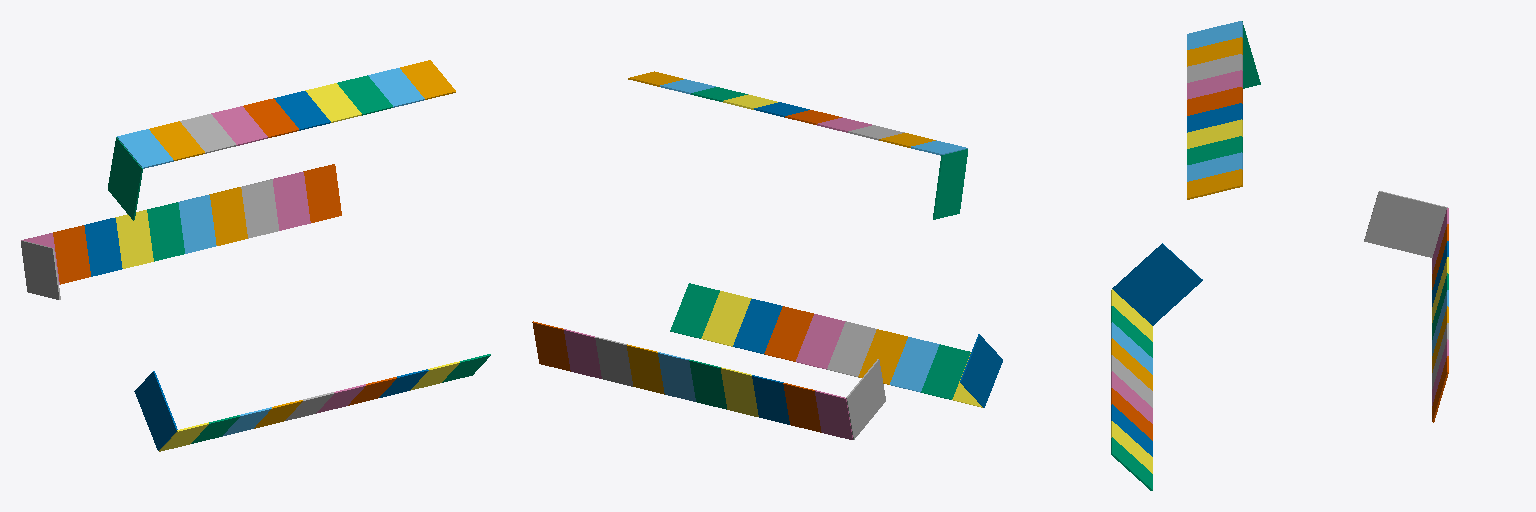
--- Render facts (derived) ---
The picture shows the robot from 3 angles, left to right: view 1: azimuth 30°, elevation 25°; view 2: azimuth 150°, elevation 25°; view 3: azimuth 270°, elevation 25°; orthographic projection.
Robot: panda — 51 links, 50 joints (37 revolute, 4 prismatic, 9 fixed); root link world; default pose: all joints at 0 but 4 set to mid-range because 0 is outside their limits (finger_1_prismatic_joint = 0.097, finger_2_prismatic_joint = 0.097, finger_3_prismatic_joint = 0.097, panda_joint4 = -1.57).
Visible links, largest first — view 1: finger_1_finger_hook_link, finger_3_finger_hook_link, finger_2_finger_hook_link, finger_2_segment_link_4, finger_2_segment_link_9, finger_2_segment_link_1, finger_2_segment_link_6, finger_2_segment_link_8, finger_2_segment_link_5, finger_2_segment_link_2, finger_2_segment_link_3, finger_2_segment_link_7 (+20 smaller); view 2: finger_1_finger_hook_link, finger_3_finger_hook_link, finger_2_finger_hook_link, finger_1_segment_link_2, finger_1_segment_link_1, finger_1_segment_link_6, finger_1_segment_link_4, finger_1_segment_link_8, finger_1_segment_link_9, finger_1_segment_link_3, finger_1_segment_link_5, finger_1_segment_link_7 (+10 smaller); view 3: finger_1_finger_hook_link, finger_2_finger_hook_link, finger_3_segment_link_1, finger_3_segment_link_2, finger_3_segment_link_4, finger_3_segment_link_5, finger_3_segment_link_7, finger_3_segment_link_9, finger_3_segment_link_3, finger_3_segment_link_6, finger_3_segment_link_10, finger_3_segment_link_8 (+11 smaller).
Link boxes in pixels (x1,y1,x2,y2): finger_1_finger_hook_link: (134,371,177,450); finger_3_finger_hook_link: (108,137,142,220); finger_2_finger_hook_link: (21,240,60,299); finger_2_segment_link_4: (209,187,247,245); finger_2_segment_link_9: (53,225,90,284); finger_2_segment_link_1: (303,164,341,222); finger_2_segment_link_6: (147,202,184,261); finger_2_segment_link_8: (84,218,122,276); finger_2_segment_link_5: (178,195,216,253); finger_2_segment_link_2: (273,172,310,230); finger_2_segment_link_3: (241,179,278,238); finger_2_segment_link_7: (115,210,153,268); finger_1_finger_hook_link: (960,334,1002,407); finger_3_finger_hook_link: (933,149,967,219); finger_2_finger_hook_link: (846,359,885,439); finger_1_segment_link_2: (701,291,751,346); finger_1_segment_link_1: (670,283,719,338); finger_1_segment_link_6: (827,321,876,377); finger_1_segment_link_4: (764,306,813,361); finger_1_segment_link_8: (890,337,939,392); finger_1_segment_link_9: (921,344,970,399); finger_1_segment_link_3: (733,299,782,354); finger_1_segment_link_5: (796,314,845,369); finger_1_segment_link_7: (858,329,907,384); finger_1_finger_hook_link: (1112,243,1202,325); finger_2_finger_hook_link: (1364,191,1447,257); finger_3_segment_link_1: (1187,169,1242,199); finger_3_segment_link_2: (1187,152,1242,181); finger_3_segment_link_4: (1187,119,1242,148); finger_3_segment_link_5: (1187,103,1242,132); finger_3_segment_link_7: (1187,70,1242,99); finger_3_segment_link_9: (1187,37,1242,66); finger_3_segment_link_3: (1187,136,1242,164); finger_3_segment_link_6: (1187,87,1242,115); finger_3_segment_link_10: (1187,21,1242,49); finger_3_segment_link_8: (1187,54,1242,82).
Size in the robot's own frame: 0.1905 by 0.1648 by 0.1648 metres.
Meshes: 12 distinct files referenced, 0 mesh visuals loaded (none loaded); not drawn: 16 (reference not matched to a file when rendering).

URDF robot description (panda):
<?xml version="1.0" encoding="utf-8"?>
<!-- =================================================================================== -->
<!-- |    This document was autogenerated by xacro from panda_and_eff.srdf.xacro       | -->
<!-- |    EDITING THIS FILE BY HAND IS NOT RECOMMENDED                                 | -->
<!-- =================================================================================== -->
<!--This does not replace URDF, and is not an extension of URDF.
    This is a format for representing semantic information about the robot structure.
    A URDF file must exist for this robot as well, where the joints and the links that are referenced are defined
-->
<robot name="panda">
  <!-- BASE LINK -->
  <link name="gripper_base_link">
    <inertial>
      <mass value="1.5"/>
      <origin rpy="3.14159265359 0 0" xyz="0 0 0.025"/>
      <inertia ixx="9.95e-3" ixy="2.73e-6" ixz="-14.32e-6" iyy="10.08e-3" iyz="121.38e-6" izz="5.13e-3"/>
    </inertial>
    <visual>
      <geometry>
        <mesh filename="package://gripper_description/meshes/main body visual.STL"/>
      </geometry>
    </visual>
    <collision>
      <geometry>
        <mesh filename="package://gripper_description/meshes/main body collision.STL"/>
      </geometry>
    </collision>
  </link>
  <!-- Intermediate link for prismatic joint -->
  <link name="finger_1_intermediate">
    <inertial>
      <mass value="0.1"/>
      <origin rpy="0 0 0" xyz="0 0 0"/>
      <inertia ixx="55.59e-6" ixy="-47.23e-6" ixz="1.16e-6" iyy="146.36e-6" iyz="1.00e-6" izz="154.18e-6"/>
    </inertial>
    <visual>
      <geometry>
        <mesh filename="package://gripper_description/meshes/nut visual.STL"/>
      </geometry>
    </visual>
    <collision>
      <geometry>
        <mesh filename="package://gripper_description/meshes/nut collision.STL"/>
      </geometry>
    </collision>
  </link>
  <!-- Main finger link -->
  <link name="finger_1">
    <inertial>
      <mass value="0.1"/>
      <origin rpy="0 0 0" xyz="0 0 0"/>
      <inertia ixx="55.59e-6" ixy="-47.23e-6" ixz="1.16e-6" iyy="146.36e-6" iyz="1.00e-6" izz="154.18e-6"/>
    </inertial>
    <visual>
      <geometry>
        <mesh filename="package://gripper_description/meshes/platform only visual.STL"/>
      </geometry>
    </visual>
    <collision>
      <geometry>
        <mesh filename="package://gripper_description/meshes/platform only collision.STL"/>
      </geometry>
    </collision>
  </link>
  <!-- Prismatic joint -->
  <joint name="finger_1_prismatic_joint" type="prismatic">
    <axis rpy="0 0 0" xyz="0 1 0"/>
    <parent link="gripper_base_link"/>
    <child link="finger_1_intermediate"/>
    <origin rpy="4.71238898038                    4.71238898038                    1.57079632679" xyz="0.0                    0.0                    0"/>
    <limit effort="40.0" lower="0.053" upper="0.141" velocity="0.015"/>
    <dynamics damping="1.0"/>
  </joint>
  <!-- Revolute joint -->
  <joint name="finger_1_revolute_joint" type="revolute">
    <axis rpy="0 0 0" xyz="0 0 1"/>
    <parent link="finger_1_intermediate"/>
    <child link="finger_1"/>
    <origin rpy="0 0 0.0" xyz="0 0 0"/>
    <limit effort="40.0" lower="-0.7" upper="0.7" velocity="0.1"/>
    <dynamics damping="1.0"/>
  </joint>
  <!-- Intermediate link for prismatic joint -->
  <link name="finger_2_intermediate">
    <inertial>
      <mass value="0.1"/>
      <origin rpy="0 0 0" xyz="0 0 0"/>
      <inertia ixx="55.59e-6" ixy="-47.23e-6" ixz="1.16e-6" iyy="146.36e-6" iyz="1.00e-6" izz="154.18e-6"/>
    </inertial>
    <visual>
      <geometry>
        <mesh filename="package://gripper_description/meshes/nut visual.STL"/>
      </geometry>
    </visual>
    <collision>
      <geometry>
        <mesh filename="package://gripper_description/meshes/nut collision.STL"/>
      </geometry>
    </collision>
  </link>
  <!-- Main finger link -->
  <link name="finger_2">
    <inertial>
      <mass value="0.1"/>
      <origin rpy="0 0 0" xyz="0 0 0"/>
      <inertia ixx="55.59e-6" ixy="-47.23e-6" ixz="1.16e-6" iyy="146.36e-6" iyz="1.00e-6" izz="154.18e-6"/>
    </inertial>
    <visual>
      <geometry>
        <mesh filename="package://gripper_description/meshes/platform only visual.STL"/>
      </geometry>
    </visual>
    <collision>
      <geometry>
        <mesh filename="package://gripper_description/meshes/platform only collision.STL"/>
      </geometry>
    </collision>
  </link>
  <!-- Prismatic joint -->
  <joint name="finger_2_prismatic_joint" type="prismatic">
    <axis rpy="0 0 0" xyz="0 1 0"/>
    <parent link="gripper_base_link"/>
    <child link="finger_2_intermediate"/>
    <origin rpy="4.71238898038                    4.71238898038                    -0.523598775598" xyz="0.0                    -0.0                    0"/>
    <limit effort="40.0" lower="0.053" upper="0.141" velocity="0.015"/>
    <dynamics damping="1.0"/>
  </joint>
  <!-- Revolute joint -->
  <joint name="finger_2_revolute_joint" type="revolute">
    <axis rpy="0 0 0" xyz="0 0 1"/>
    <parent link="finger_2_intermediate"/>
    <child link="finger_2"/>
    <origin rpy="0 0 0.0" xyz="0 0 0"/>
    <limit effort="40.0" lower="-0.7" upper="0.7" velocity="0.1"/>
    <dynamics damping="1.0"/>
  </joint>
  <!-- Intermediate link for prismatic joint -->
  <link name="finger_3_intermediate">
    <inertial>
      <mass value="0.1"/>
      <origin rpy="0 0 0" xyz="0 0 0"/>
      <inertia ixx="55.59e-6" ixy="-47.23e-6" ixz="1.16e-6" iyy="146.36e-6" iyz="1.00e-6" izz="154.18e-6"/>
    </inertial>
    <visual>
      <geometry>
        <mesh filename="package://gripper_description/meshes/nut visual.STL"/>
      </geometry>
    </visual>
    <collision>
      <geometry>
        <mesh filename="package://gripper_description/meshes/nut collision.STL"/>
      </geometry>
    </collision>
  </link>
  <!-- Main finger link -->
  <link name="finger_3">
    <inertial>
      <mass value="0.1"/>
      <origin rpy="0 0 0" xyz="0 0 0"/>
      <inertia ixx="55.59e-6" ixy="-47.23e-6" ixz="1.16e-6" iyy="146.36e-6" iyz="1.00e-6" izz="154.18e-6"/>
    </inertial>
    <visual>
      <geometry>
        <mesh filename="package://gripper_description/meshes/platform only visual.STL"/>
      </geometry>
    </visual>
    <collision>
      <geometry>
        <mesh filename="package://gripper_description/meshes/platform only collision.STL"/>
      </geometry>
    </collision>
  </link>
  <!-- Prismatic joint -->
  <joint name="finger_3_prismatic_joint" type="prismatic">
    <axis rpy="0 0 0" xyz="0 1 0"/>
    <parent link="gripper_base_link"/>
    <child link="finger_3_intermediate"/>
    <origin rpy="4.71238898038                    4.71238898038                    -2.61799387799" xyz="-0.0                    -0.0                    0"/>
    <limit effort="40.0" lower="0.053" upper="0.141" velocity="0.015"/>
    <dynamics damping="1.0"/>
  </joint>
  <!-- Revolute joint -->
  <joint name="finger_3_revolute_joint" type="revolute">
    <axis rpy="0 0 0" xyz="0 0 1"/>
    <parent link="finger_3_intermediate"/>
    <child link="finger_3"/>
    <origin rpy="0 0 0.0" xyz="0 0 0"/>
    <limit effort="40.0" lower="-0.7" upper="0.7" velocity="0.1"/>
    <dynamics damping="1.0"/>
  </joint>
  <!-- PALM -->
  <link name="palm">
    <inertial>
      <mass value="0.05"/>
      <origin rpy="0 0 0" xyz="0 0 0"/>
      <inertia ixx="10.0e-6" ixy="0.0" ixz="0.0" iyy="10.0e-6" iyz="0.0" izz="10.0e-6"/>
    </inertial>
    <visual>
      <origin rpy="0 0 0" xyz="0 0 0"/>
      <geometry>
        <mesh filename="package://gripper_description/meshes/palm visual.STL"/>
      </geometry>
    </visual>
    <collision>
      <geometry>
        <mesh filename="package://gripper_description/meshes/palm collision.STL"/>
      </geometry>
    </collision>
  </link>
  <joint name="palm_prismatic_joint" type="prismatic">
    <axis rpy="0 0 0" xyz="1 0 0"/>
    <parent link="gripper_base_link"/>
    <child link="palm"/>
    <origin rpy="0 -1.57079632679 0" xyz="0 0 0"/>
    <limit effort="40.0" lower="0.0" upper="0.16" velocity="0.036"/>
    <dynamics damping="1.0"/>
  </joint>
  <!-- <link name="world" />
    <xacro:unless value="${not connected_to}">
      <joint name="virtual_joint" type="fixed">
        <parent link="${connected_to}"/>
        <child link="${arm_id}_link0"/>
        <origin rpy="${rpy}" xyz="${xyz}"/>
        <dynamics damping="1.0"/>
      </joint>
    </xacro:unless> -->
  <link name="panda_link0">
    <visual>
      <geometry>
        <mesh filename="package://gripper_description/meshes_panda/visual/link0.dae"/>
      </geometry>
    </visual>
    <collision>
      <geometry>
        <mesh filename="package://gripper_description/meshes_panda/collision/link0.stl"/>
      </geometry>
    </collision>
    <inertial>
      <origin rpy="0 0 0" xyz="0 0 0"/>
      <mass value="3.06"/>
      <inertia ixx="0.3" ixy="0.0" ixz="0.0" iyy="0.3" iyz="0.0" izz="0.3"/>
      <!-- <inertia ixx="3e-1" ixy="0.0" ixz="0.0" iyy="3e-1" iyz="0.0" izz="3e-1" /> -->
    </inertial>
  </link>
  <link name="panda_link1">
    <visual>
      <geometry>
        <mesh filename="package://gripper_description/meshes_panda/visual/link1.dae"/>
      </geometry>
    </visual>
    <collision>
      <geometry>
        <mesh filename="package://gripper_description/meshes_panda/collision/link1.stl"/>
      </geometry>
    </collision>
    <inertial>
      <origin rpy="0 0 0" xyz="0 0 0"/>
      <mass value="2.34"/>
      <inertia ixx="7.0337e-01" ixy="-1.3900e-04" ixz="6.7720e-03" iyy="7.0661e-01" iyz="1.9169e-02" izz="9.1170e-03"/>
      <!-- <inertia ixx="3e-1" ixy="0.0" ixz="0.0" iyy="3e-1" iyz="0.0" izz="3e-1" /> -->
    </inertial>
  </link>
  <link name="panda_link2">
    <visual>
      <geometry>
        <mesh filename="package://gripper_description/meshes_panda/visual/link2.dae"/>
      </geometry>
    </visual>
    <collision>
      <geometry>
        <mesh filename="package://gripper_description/meshes_panda/collision/link2.stl"/>
      </geometry>
    </collision>
    <inertial>
      <origin rpy="0 0 0" xyz="0 0 0"/>
      <mass value="2.36"/>
      <inertia ixx="7.9620e-03" ixy="-3.9250e-03" ixz="1.0254e-02" iyy="2.8110e-02" iyz="7.0400e-04" izz="2.5995e-02"/>
      <!-- <inertia ixx="3e-1" ixy="0.0" ixz="0.0" iyy="3e-1" iyz="0.0" izz="3e-1" /> -->
    </inertial>
  </link>
  <link name="panda_link3">
    <visual>
      <geometry>
        <mesh filename="package://gripper_description/meshes_panda/visual/link3.dae"/>
      </geometry>
    </visual>
    <collision>
      <geometry>
        <mesh filename="package://gripper_description/meshes_panda/collision/link3.stl"/>
      </geometry>
    </collision>
    <inertial>
      <origin rpy="0 0 0" xyz="0 0 0"/>
      <mass value="2.38"/>
      <inertia ixx="3.7242e-02" ixy="-4.7610e-03" ixz="-1.1396e-02" iyy="3.6155e-02" iyz="-1.2805e-02" izz="1.0830e-02"/>
      <!-- <inertia ixx="3e-1" ixy="0.0" ixz="0.0" iyy="3e-1" iyz="0.0" izz="3e-1" /> -->
    </inertial>
  </link>
  <link name="panda_link4">
    <visual>
      <geometry>
        <mesh filename="package://gripper_description/meshes_panda/visual/link4.dae"/>
      </geometry>
    </visual>
    <collision>
      <geometry>
        <mesh filename="package://gripper_description/meshes_panda/collision/link4.stl"/>
      </geometry>
    </collision>
    <inertial>
      <origin rpy="0 0 0" xyz="0 0 0"/>
      <mass value="2.43"/>
      <inertia ixx="2.5853e-02" ixy="7.7960e-03" ixz="-1.3320e-03" iyy="1.9552e-02" iyz="8.6410e-03" izz="2.8323e-02"/>
      <!-- <inertia ixx="3e-1" ixy="0.0" ixz="0.0" iyy="3e-1" iyz="0.0" izz="3e-1" /> -->
    </inertial>
  </link>
  <link name="panda_link5">
    <visual>
      <geometry>
        <mesh filename="package://gripper_description/meshes_panda/visual/link5.dae"/>
      </geometry>
    </visual>
    <collision>
      <geometry>
        <mesh filename="package://gripper_description/meshes_panda/collision/link5.stl"/>
      </geometry>
    </collision>
    <inertial>
      <origin rpy="0 0 0" xyz="0 0 0"/>
      <mass value="3.5"/>
      <inertia ixx="3.5549e-02" ixy="-2.1170e-03" ixz="-4.0370e-03" iyy="2.9474e-02" iyz="2.2900e-04" izz="8.6270e-03"/>
      <!-- <inertia ixx="3e-1" ixy="0.0" ixz="0.0" iyy="3e-1" iyz="0.0" izz="3e-1" /> -->
    </inertial>
  </link>
  <link name="panda_link6">
    <visual>
      <geometry>
        <mesh filename="package://gripper_description/meshes_panda/visual/link6.dae"/>
      </geometry>
    </visual>
    <collision>
      <geometry>
        <mesh filename="package://gripper_description/meshes_panda/collision/link6.stl"/>
      </geometry>
    </collision>
    <inertial>
      <origin rpy="0 0 0" xyz="0 0 0"/>
      <mass value="1.47"/>
      <inertia ixx="1.9640e-03" ixy="1.0900e-04" ixz="-1.1580e-03" iyy="4.3540e-03" iyz="3.4100e-04" izz="5.4330e-03"/>
      <!-- <inertia ixx="3e-1" ixy="0.0" ixz="0.0" iyy="3e-1" iyz="0.0" izz="3e-1" /> -->
    </inertial>
  </link>
  <link name="panda_link7">
    <visual>
      <geometry>
        <mesh filename="package://gripper_description/meshes_panda/visual/link7.dae"/>
      </geometry>
    </visual>
    <collision>
      <geometry>
        <mesh filename="package://gripper_description/meshes_panda/collision/link7.stl"/>
      </geometry>
    </collision>
    <inertial>
      <origin rpy="0 0 0" xyz="0 0 0"/>
      <mass value="0.45"/>
      <inertia ixx="1.2516e-02" ixy="-4.2800e-04" ixz="-1.1960e-03" iyy="1.0027e-02" iyz="-7.4100e-04" izz="4.8150e-03"/>
      <!-- <inertia ixx="3e-1" ixy="0.0" ixz="0.0" iyy="3e-1" iyz="0.0" izz="3e-1" /> -->
    </inertial>
  </link>
  <link name="panda_link8">
    <inertial>
      <origin rpy="0 0 0" xyz="0 0 0"/>
      <mass value="0.0"/>
      <inertia ixx="1e-4" ixy="0.0" ixz="0.0" iyy="1e-4" iyz="0.0" izz="1e-4"/>
      <!-- <inertia ixx="3e-1" ixy="0.0" ixz="0.0" iyy="3e-1" iyz="0.0" izz="3e-1" /> -->
    </inertial>
  </link>
  <!-- joint6 limit lower = -0.0175 -->
  <joint name="panda_joint1" type="revolute">
    <safety_controller k_position="100.0" k_velocity="40.0" soft_lower_limit="-2.8973" soft_upper_limit="2.8973"/>
    <origin rpy="0 0 0" xyz="0 0 0.333"/>
    <parent link="panda_link0"/>
    <child link="panda_link1"/>
    <limit effort="87" lower="-2.8973" upper="2.8973" velocity="2.175"/>
    <axis xyz="0 0 1"/>
    <dynamics damping="1.0" friction="0.0"/>
  </joint>
  <joint name="panda_joint2" type="revolute">
    <safety_controller k_position="100.0" k_velocity="40.0" soft_lower_limit="-1.7628" soft_upper_limit="1.7628"/>
    <origin rpy="-1.57079632679 0 0" xyz="0 0 0"/>
    <parent link="panda_link1"/>
    <child link="panda_link2"/>
    <limit effort="87" lower="-1.7628" upper="1.7628" velocity="2.175"/>
    <axis xyz="0 0 1"/>
    <dynamics damping="1.0" friction="0.0"/>
  </joint>
  <joint name="panda_joint3" type="revolute">
    <safety_controller k_position="100.0" k_velocity="40.0" soft_lower_limit="-2.8973" soft_upper_limit="2.8973"/>
    <origin rpy="1.57079632679 0 0" xyz="0 -0.316 0"/>
    <parent link="panda_link2"/>
    <child link="panda_link3"/>
    <limit effort="87" lower="-2.8973" upper="2.8973" velocity="2.175"/>
    <axis xyz="0 0 1"/>
    <dynamics damping="1.0" friction="0.0"/>
  </joint>
  <joint name="panda_joint4" type="revolute">
    <safety_controller k_position="100.0" k_velocity="40.0" soft_lower_limit="-3.0718" soft_upper_limit="-0.0698"/>
    <origin rpy="1.57079632679 0 0" xyz="0.0825 0 0"/>
    <parent link="panda_link3"/>
    <child link="panda_link4"/>
    <limit effort="87" lower="-3.0718" upper="-0.0698" velocity="2.175"/>
    <axis xyz="0 0 1"/>
    <dynamics damping="1.0" friction="0.0"/>
  </joint>
  <joint name="panda_joint5" type="revolute">
    <safety_controller k_position="100.0" k_velocity="40.0" soft_lower_limit="-2.8973" soft_upper_limit="2.8973"/>
    <origin rpy="-1.57079632679 0 0" xyz="-0.0825 0.384 0"/>
    <parent link="panda_link4"/>
    <child link="panda_link5"/>
    <limit effort="12" lower="-2.8973" upper="2.8973" velocity="2.61"/>
    <axis xyz="0 0 1"/>
    <dynamics damping="1.0" friction="0.0"/>
  </joint>
  <joint name="panda_joint6" type="revolute">
    <safety_controller k_position="100.0" k_velocity="40.0" soft_lower_limit="-0.0175" soft_upper_limit="3.7525"/>
    <origin rpy="1.57079632679 0 0" xyz="0 0 0"/>
    <parent link="panda_link5"/>
    <child link="panda_link6"/>
    <limit effort="12" lower="-0.0175" upper="3.7525" velocity="2.61"/>
    <axis xyz="0 0 1"/>
    <dynamics damping="1.0" friction="0.0"/>
  </joint>
  <joint name="panda_joint7" type="revolute">
    <safety_controller k_position="100.0" k_velocity="40.0" soft_lower_limit="-2.8973" soft_upper_limit="2.8973"/>
    <origin rpy="1.57079632679 0 0" xyz="0.088 0 0"/>
    <parent link="panda_link6"/>
    <child link="panda_link7"/>
    <limit effort="12" lower="-2.8973" upper="2.8973" velocity="2.61"/>
    <axis xyz="0 0 1"/>
    <dynamics damping="1.0" friction="0.0"/>
  </joint>
  <joint name="panda_joint8" type="fixed">
    <origin rpy="0 0 0" xyz="0 0 0.107"/>
    <parent link="panda_link7"/>
    <child link="panda_link8"/>
    <axis xyz="0 0 0"/>
    <dynamics damping="1.0" friction="0.0"/>
  </joint>
  <!-- attach panda arm to the ground for gazebo -->
  <link name="world"/>
  <joint name="world_to_base" type="fixed">
    <origin rpy="0 0 0" xyz="0 0 0"/>
    <parent link="world"/>
    <child link="panda_link0"/>
  </joint>
  <!-- attach eef to panda model via base link of eef -->
  <joint name="panda_to_eef_base_link" type="fixed">
    <origin rpy="0 0 -0.785398163397" xyz="0 0 0.25"/>
    <parent link="panda_link7"/>
    <child link="gripper_base_link"/>
  </joint>
  <gazebo reference="panda_link0">
    <material>Gazebo/White</material>
    <mu1>0.2</mu1>
    <mu2>0.2</mu2>
  </gazebo>
  <gazebo reference="panda_link1">
    <material>Gazebo/White</material>
    <mu1>0.2</mu1>
    <mu2>0.2</mu2>
  </gazebo>
  <gazebo reference="panda_link2">
    <material>Gazebo/White</material>
    <mu1>0.2</mu1>
    <mu2>0.2</mu2>
  </gazebo>
  <gazebo reference="panda_link3">
    <material>Gazebo/White</material>
    <mu1>0.2</mu1>
    <mu2>0.2</mu2>
  </gazebo>
  <gazebo reference="panda_link4">
    <material>Gazebo/White</material>
    <mu1>0.2</mu1>
    <mu2>0.2</mu2>
  </gazebo>
  <gazebo reference="panda_link5">
    <material>Gazebo/White</material>
    <mu1>0.2</mu1>
    <mu2>0.2</mu2>
  </gazebo>
  <gazebo reference="panda_link6">
    <material>Gazebo/White</material>
    <mu1>0.2</mu1>
    <mu2>0.2</mu2>
  </gazebo>
  <gazebo reference="gripper_base_link">
    <material>Gazebo/Grey</material>
    <mu1>0.2</mu1>
    <mu2>0.2</mu2>
  </gazebo>
  <gazebo reference="finger_1_intermediate">
    <material>Gazebo/Grey</material>
    <mu1>0.2</mu1>
    <mu2>0.2</mu2>
  </gazebo>
  <gazebo reference="finger_1">
    <material>Gazebo/Grey</material>
    <mu1>0.2</mu1>
    <mu2>0.2</mu2>
  </gazebo>
  <gazebo reference="finger_2_intermediate">
    <material>Gazebo/Grey</material>
    <mu1>0.2</mu1>
    <mu2>0.2</mu2>
  </gazebo>
  <gazebo reference="finger_2">
    <material>Gazebo/Grey</material>
    <mu1>0.2</mu1>
    <mu2>0.2</mu2>
  </gazebo>
  <gazebo reference="finger_3_intermediate">
    <material>Gazebo/Grey</material>
    <mu1>0.2</mu1>
    <mu2>0.2</mu2>
  </gazebo>
  <gazebo reference="finger_3">
    <material>Gazebo/Grey</material>
    <mu1>0.2</mu1>
    <mu2>0.2</mu2>
  </gazebo>
  <gazebo reference="palm">
    <material>Gazebo/Grey</material>
    <mu1>0.2</mu1>
    <mu2>0.2</mu2>
  </gazebo>
  <transmission name="panda_tran_1">
    <type>transmission_interface/SimpleTransmission</type>
    <joint name="panda_joint1">
      <!-- <hardwareInterface>hardware_interface/EffortJointInterface</hardwareInterface> -->
      <hardwareInterface>hardware_interface/PositionJointInterface</hardwareInterface>
    </joint>
    <actuator name="panda_motor_1">
      <!-- <hardwareInterface>hardware_interface/EffortJointInterface</hardwareInterface> -->
      <hardwareInterface>hardware_interface/PositionJointInterface</hardwareInterface>
      <mechanicalReduction>1</mechanicalReduction>
    </actuator>
  </transmission>
  <transmission name="panda_tran_2">
    <type>transmission_interface/SimpleTransmission</type>
    <joint name="panda_joint2">
      <!-- <hardwareInterface>hardware_interface/EffortJointInterface</hardwareInterface> -->
      <hardwareInterface>hardware_interface/PositionJointInterface</hardwareInterface>
    </joint>
    <actuator name="panda_motor_2">
      <!-- <hardwareInterface>hardware_interface/EffortJointInterface</hardwareInterface> -->
      <hardwareInterface>hardware_interface/PositionJointInterface</hardwareInterface>
      <mechanicalReduction>1</mechanicalReduction>
    </actuator>
  </transmission>
  <transmission name="panda_tran_3">
    <type>transmission_interface/SimpleTransmission</type>
    <joint name="panda_joint3">
      <!-- <hardwareInterface>hardware_interface/EffortJointInterface</hardwareInterface> -->
      <hardwareInterface>hardware_interface/PositionJointInterface</hardwareInterface>
    </joint>
    <actuator name="panda_motor_3">
      <!-- <hardwareInterface>hardware_interface/EffortJointInterface</hardwareInterface> -->
      <hardwareInterface>hardware_interface/PositionJointInterface</hardwareInterface>
      <mechanicalReduction>1</mechanicalReduction>
    </actuator>
  </transmission>
  <transmission name="panda_tran_4">
    <type>transmission_interface/SimpleTransmission</type>
    <joint name="panda_joint4">
      <!-- <hardwareInterface>hardware_interface/EffortJointInterface</hardwareInterface> -->
      <hardwareInterface>hardware_interface/PositionJointInterface</hardwareInterface>
    </joint>
    <actuator name="panda_motor_4">
      <!-- <hardwareInterface>hardware_interface/EffortJointInterface</hardwareInterface> -->
      <hardwareInterface>hardware_interface/PositionJointInterface</hardwareInterface>
      <mechanicalReduction>1</mechanicalReduction>
    </actuator>
  </transmission>
  <transmission name="panda_tran_5">
    <type>transmission_interface/SimpleTransmission</type>
    <joint name="panda_joint5">
      <!-- <hardwareInterface>hardware_interface/EffortJointInterface</hardwareInterface> -->
      <hardwareInterface>hardware_interface/PositionJointInterface</hardwareInterface>
    </joint>
    <actuator name="panda_motor_5">
      <!-- <hardwareInterface>hardware_interface/EffortJointInterface</hardwareInterface> -->
      <hardwareInterface>hardware_interface/PositionJointInterface</hardwareInterface>
      <mechanicalReduction>1</mechanicalReduction>
    </actuator>
  </transmission>
  <transmission name="panda_tran_6">
    <type>transmission_interface/SimpleTransmission</type>
    <joint name="panda_joint6">
      <!-- <hardwareInterface>hardware_interface/EffortJointInterface</hardwareInterface> -->
      <hardwareInterface>hardware_interface/PositionJointInterface</hardwareInterface>
    </joint>
    <actuator name="panda_motor_6">
      <!-- <hardwareInterface>hardware_interface/EffortJointInterface</hardwareInterface> -->
      <hardwareInterface>hardware_interface/PositionJointInterface</hardwareInterface>
      <mechanicalReduction>1</mechanicalReduction>
    </actuator>
  </transmission>
  <transmission name="panda_tran_7">
    <type>transmission_interface/SimpleTransmission</type>
    <joint name="panda_joint7">
      <!-- <hardwareInterface>hardware_interface/EffortJointInterface</hardwareInterface> -->
      <hardwareInterface>hardware_interface/PositionJointInterface</hardwareInterface>
    </joint>
    <actuator name="panda_motor_7">
      <!-- <hardwareInterface>hardware_interface/EffortJointInterface</hardwareInterface> -->
      <hardwareInterface>hardware_interface/PositionJointInterface</hardwareInterface>
      <mechanicalReduction>1</mechanicalReduction>
    </actuator>
  </transmission>
  <transmission name="panda_tran_8">
    <type>transmission_interface/SimpleTransmission</type>
    <joint name="finger_1_revolute_joint">
      <!-- <hardwareInterface>hardware_interface/EffortJointInterface</hardwareInterface> -->
      <hardwareInterface>hardware_interface/PositionJointInterface</hardwareInterface>
    </joint>
    <actuator name="panda_motor_8">
      <!-- <hardwareInterface>hardware_interface/EffortJointInterface</hardwareInterface> -->
      <hardwareInterface>hardware_interface/PositionJointInterface</hardwareInterface>
      <mechanicalReduction>1</mechanicalReduction>
    </actuator>
  </transmission>
  <transmission name="panda_tran_9">
    <type>transmission_interface/SimpleTransmission</type>
    <joint name="finger_1_prismatic_joint">
      <!-- <hardwareInterface>hardware_interface/EffortJointInterface</hardwareInterface> -->
      <hardwareInterface>hardware_interface/PositionJointInterface</hardwareInterface>
    </joint>
    <actuator name="panda_motor_9">
      <!-- <hardwareInterface>hardware_interface/EffortJointInterface</hardwareInterface> -->
      <hardwareInterface>hardware_interface/PositionJointInterface</hardwareInterface>
      <mechanicalReduction>1</mechanicalReduction>
    </actuator>
  </transmission>
  <transmission name="panda_tran_10">
    <type>transmission_interface/SimpleTransmission</type>
    <joint name="finger_2_revolute_joint">
      <!-- <hardwareInterface>hardware_interface/EffortJointInterface</hardwareInterface> -->
      <hardwareInterface>hardware_interface/PositionJointInterface</hardwareInterface>
    </joint>
    <actuator name="panda_motor_10">
      <!-- <hardwareInterface>hardware_interface/EffortJointInterface</hardwareInterface> -->
      <hardwareInterface>hardware_interface/PositionJointInterface</hardwareInterface>
      <mechanicalReduction>1</mechanicalReduction>
    </actuator>
  </transmission>
  <transmission name="panda_tran_11">
    <type>transmission_interface/SimpleTransmission</type>
    <joint name="finger_2_prismatic_joint">
      <!-- <hardwareInterface>hardware_interface/EffortJointInterface</hardwareInterface> -->
      <hardwareInterface>hardware_interface/PositionJointInterface</hardwareInterface>
    </joint>
    <actuator name="panda_motor_11">
      <!-- <hardwareInterface>hardware_interface/EffortJointInterface</hardwareInterface> -->
      <hardwareInterface>hardware_interface/PositionJointInterface</hardwareInterface>
      <mechanicalReduction>1</mechanicalReduction>
    </actuator>
  </transmission>
  <transmission name="panda_tran_12">
    <type>transmission_interface/SimpleTransmission</type>
    <joint name="finger_3_revolute_joint">
      <!-- <hardwareInterface>hardware_interface/EffortJointInterface</hardwareInterface> -->
      <hardwareInterface>hardware_interface/PositionJointInterface</hardwareInterface>
    </joint>
    <actuator name="panda_motor_12">
      <!-- <hardwareInterface>hardware_interface/EffortJointInterface</hardwareInterface> -->
      <hardwareInterface>hardware_interface/PositionJointInterface</hardwareInterface>
      <mechanicalReduction>1</mechanicalReduction>
    </actuator>
  </transmission>
  <transmission name="panda_tran_13">
    <type>transmission_interface/SimpleTransmission</type>
    <joint name="finger_3_prismatic_joint">
      <!-- <hardwareInterface>hardware_interface/EffortJointInterface</hardwareInterface> -->
      <hardwareInterface>hardware_interface/PositionJointInterface</hardwareInterface>
    </joint>
    <actuator name="panda_motor_13">
      <!-- <hardwareInterface>hardware_interface/EffortJointInterface</hardwareInterface> -->
      <hardwareInterface>hardware_interface/PositionJointInterface</hardwareInterface>
      <mechanicalReduction>1</mechanicalReduction>
    </actuator>
  </transmission>
  <transmission name="panda_tran_14">
    <type>transmission_interface/SimpleTransmission</type>
    <joint name="palm_prismatic_joint">
      <!-- <hardwareInterface>hardware_interface/EffortJointInterface</hardwareInterface> -->
      <hardwareInterface>hardware_interface/PositionJointInterface</hardwareInterface>
    </joint>
    <actuator name="panda_motor_14">
      <!-- <hardwareInterface>hardware_interface/EffortJointInterface</hardwareInterface> -->
      <hardwareInterface>hardware_interface/PositionJointInterface</hardwareInterface>
      <mechanicalReduction>1</mechanicalReduction>
    </actuator>
  </transmission>
  <gazebo>
    <plugin filename="libgazebo_ros_control.so" name="gazebo_ros_control">
      <!--            	<robotNamespace>/gripper_controller</robotNamespace>-->
    </plugin>
  </gazebo>
  <!-- <xacro:property name="joint_friction" value="${total_friction / num_segments}"/>
    <xacro:property name="joint_damping" value="${total_damping * num_segments}"/> -->
  <link name="finger_1_segment_link_1">
    <inertial>
      <mass value="0.00633333333333"/>
      <inertia ixx="4.14205277778e-07" ixy="0.00" ixz="0.00" iyy="7.62538611111e-07" iyz="0.00" izz="1.17588888889e-06"/>
      <!-- <inertia ixx="${1e-6 * stability_factor}"
                 iyy="${1e-6 * stability_factor}"
                 izz="${1e-6 * stability_factor}"
                ixy="0.00" iyz="0.00" ixz="0.00" /> -->
    </inertial>
    <visual>
      <origin rpy="0 0 0" xyz="0.0095 0 0"/>
      <geometry>
        <box size="0.019 0.028 0.0009"/>
      </geometry>
    </visual>
    <collision>
      <origin rpy="0 0 0" xyz="0.0095 0 0"/>
      <geometry>
        <box size="0.019 0.028 0.0009"/>
      </geometry>
    </collision>
  </link>
  <gazebo reference="finger_1_segment_link_1">
    <material>Gazebo/Orange</material>
    <mu1>0.1</mu1>
    <mu2>0.1</mu2>
    <maxVel>0.0</maxVel>
    <minDepth>0.001</minDepth>
    <!-- <kp>100</kp>
        <kd>1</kd> -->
  </gazebo>
  <link name="finger_1_segment_link_2">
    <inertial>
      <mass value="0.00633333333333"/>
      <inertia ixx="4.14205277778e-07" ixy="0.00" ixz="0.00" iyy="7.62538611111e-07" iyz="0.00" izz="1.17588888889e-06"/>
      <!-- <inertia ixx="${1e-6 * stability_factor}"
                 iyy="${1e-6 * stability_factor}"
                 izz="${1e-6 * stability_factor}"
                ixy="0.00" iyz="0.00" ixz="0.00" /> -->
    </inertial>
    <visual>
      <origin rpy="0 0 0" xyz="0.0095 0 0"/>
      <geometry>
        <box size="0.019 0.028 0.0009"/>
      </geometry>
    </visual>
    <collision>
      <origin rpy="0 0 0" xyz="0.0095 0 0"/>
      <geometry>
        <box size="0.019 0.028 0.0009"/>
      </geometry>
    </collision>
  </link>
  <gazebo reference="finger_1_segment_link_2">
    <material>Gazebo/Orange</material>
    <mu1>0.1</mu1>
    <mu2>0.1</mu2>
    <maxVel>0.0</maxVel>
    <minDepth>0.001</minDepth>
    <!-- <kp>100</kp>
        <kd>1</kd> -->
  </gazebo>
  <!-- bending joint -->
  <joint name="finger_1_segment_joint_1" type="revolute">
    <axis rpy="0 0 0" xyz="0 1 0"/>
    <parent link="finger_1_segment_link_1"/>
    <child link="finger_1_segment_link_2"/>
    <origin rpy="0 0 0" xyz="0.019 0 0"/>
    <limit effort="1000.0" lower="-1.0" upper="1.0" velocity="1.0"/>
    <dynamics damping="0.001" friction="0.0"/>
  </joint>
  <gazebo reference="finger_1_segment_joint_1">
    <provideFeedback>1</provideFeedback>
    <springReference>0.0</springReference>
    <implicitSpringDamper>1</implicitSpringDamper>
    <springStiffness>3.0</springStiffness>
  </gazebo>
  <!-- set transmission for gazebo ROS controllers-->
  <transmission name="finger_1_segment_tran_1">
    <type>transmission_interface/SimpleTransmission</type>
    <joint name="finger_1_segment_joint_1">
      <hardwareInterface>hardware_interface/EffortJointInterface</hardwareInterface>
    </joint>
    <actuator name="finger_1_segment_motor_1">
      <hardwareInterface>hardware_interface/EffortJointInterface</hardwareInterface>
      <mechanicalReduction>1</mechanicalReduction>
    </actuator>
  </transmission>
  <link name="finger_1_segment_link_3">
    <inertial>
      <mass value="0.00633333333333"/>
      <inertia ixx="4.14205277778e-07" ixy="0.00" ixz="0.00" iyy="7.62538611111e-07" iyz="0.00" izz="1.17588888889e-06"/>
      <!-- <inertia ixx="${1e-6 * stability_factor}"
                 iyy="${1e-6 * stability_factor}"
                 izz="${1e-6 * stability_factor}"
                ixy="0.00" iyz="0.00" ixz="0.00" /> -->
    </inertial>
    <visual>
      <origin rpy="0 0 0" xyz="0.0095 0 0"/>
      <geometry>
        <box size="0.019 0.028 0.0009"/>
      </geometry>
    </visual>
    <collision>
      <origin rpy="0 0 0" xyz="0.0095 0 0"/>
      <geometry>
        <box size="0.019 0.028 0.0009"/>
      </geometry>
    </collision>
  </link>
  <gazebo reference="finger_1_segment_link_3">
    <material>Gazebo/Orange</material>
    <mu1>0.1</mu1>
    <mu2>0.1</mu2>
    <maxVel>0.0</maxVel>
    <minDepth>0.001</minDepth>
    <!-- <kp>100</kp>
        <kd>1</kd> -->
  </gazebo>
  <!-- bending joint -->
  <joint name="finger_1_segment_joint_2" type="revolute">
    <axis rpy="0 0 0" xyz="0 1 0"/>
    <parent link="finger_1_segment_link_2"/>
    <child link="finger_1_segment_link_3"/>
    <origin rpy="0 0 0" xyz="0.019 0 0"/>
    <limit effort="1000.0" lower="-1.0" upper="1.0" velocity="1.0"/>
    <dynamics damping="0.001" friction="0.0"/>
  </joint>
  <gazebo reference="finger_1_segment_joint_2">
    <provideFeedback>1</provideFeedback>
    <springReference>0.0</springReference>
    <implicitSpringDamper>1</implicitSpringDamper>
    <springStiffness>3.0</springStiffness>
  </gazebo>
  <!-- set transmission for gazebo ROS controllers-->
  <transmission name="finger_1_segment_tran_2">
    <type>transmission_interface/SimpleTransmission</type>
    <joint name="finger_1_segment_joint_2">
      <hardwareInterface>hardware_interface/EffortJointInterface</hardwareInterface>
    </joint>
    <actuator name="finger_1_segment_motor_2">
      <hardwareInterface>hardware_interface/EffortJointInterface</hardwareInterface>
      <mechanicalReduction>1</mechanicalReduction>
    </actuator>
  </transmission>
  <link name="finger_1_segment_link_4">
    <inertial>
      <mass value="0.00633333333333"/>
      <inertia ixx="4.14205277778e-07" ixy="0.00" ixz="0.00" iyy="7.62538611111e-07" iyz="0.00" izz="1.17588888889e-06"/>
      <!-- <inertia ixx="${1e-6 * stability_factor}"
                 iyy="${1e-6 * stability_factor}"
                 izz="${1e-6 * stability_factor}"
                ixy="0.00" iyz="0.00" ixz="0.00" /> -->
    </inertial>
    <visual>
      <origin rpy="0 0 0" xyz="0.0095 0 0"/>
      <geometry>
        <box size="0.019 0.028 0.0009"/>
      </geometry>
    </visual>
    <collision>
      <origin rpy="0 0 0" xyz="0.0095 0 0"/>
      <geometry>
        <box size="0.019 0.028 0.0009"/>
      </geometry>
    </collision>
  </link>
  <gazebo reference="finger_1_segment_link_4">
    <material>Gazebo/Orange</material>
    <mu1>0.1</mu1>
    <mu2>0.1</mu2>
    <maxVel>0.0</maxVel>
    <minDepth>0.001</minDepth>
    <!-- <kp>100</kp>
        <kd>1</kd> -->
  </gazebo>
  <!-- bending joint -->
  <joint name="finger_1_segment_joint_3" type="revolute">
    <axis rpy="0 0 0" xyz="0 1 0"/>
    <parent link="finger_1_segment_link_3"/>
    <child link="finger_1_segment_link_4"/>
    <origin rpy="0 0 0" xyz="0.019 0 0"/>
    <limit effort="1000.0" lower="-1.0" upper="1.0" velocity="1.0"/>
    <dynamics damping="0.001" friction="0.0"/>
  </joint>
  <gazebo reference="finger_1_segment_joint_3">
    <provideFeedback>1</provideFeedback>
    <springReference>0.0</springReference>
    <implicitSpringDamper>1</implicitSpringDamper>
    <springStiffness>3.0</springStiffness>
  </gazebo>
  <!-- set transmission for gazebo ROS controllers-->
  <transmission name="finger_1_segment_tran_3">
    <type>transmission_interface/SimpleTransmission</type>
    <joint name="finger_1_segment_joint_3">
      <hardwareInterface>hardware_interface/EffortJointInterface</hardwareInterface>
    </joint>
    <actuator name="finger_1_segment_motor_3">
      <hardwareInterface>hardware_interface/EffortJointInterface</hardwareInterface>
      <mechanicalReduction>1</mechanicalReduction>
    </actuator>
  </transmission>
  <link name="finger_1_segment_link_5">
    <inertial>
      <mass value="0.00633333333333"/>
      <inertia ixx="4.14205277778e-07" ixy="0.00" ixz="0.00" iyy="7.62538611111e-07" iyz="0.00" izz="1.17588888889e-06"/>
      <!-- <inertia ixx="${1e-6 * stability_factor}"
                 iyy="${1e-6 * stability_factor}"
                 izz="${1e-6 * stability_factor}"
                ixy="0.00" iyz="0.00" ixz="0.00" /> -->
    </inertial>
    <visual>
      <origin rpy="0 0 0" xyz="0.0095 0 0"/>
      <geometry>
        <box size="0.019 0.028 0.0009"/>
      </geometry>
    </visual>
    <collision>
      <origin rpy="0 0 0" xyz="0.0095 0 0"/>
      <geometry>
        <box size="0.019 0.028 0.0009"/>
      </geometry>
    </collision>
  </link>
  <gazebo reference="finger_1_segment_link_5">
    <material>Gazebo/Orange</material>
    <mu1>0.1</mu1>
    <mu2>0.1</mu2>
    <maxVel>0.0</maxVel>
    <minDepth>0.001</minDepth>
    <!-- <kp>100</kp>
        <kd>1</kd> -->
  </gazebo>
  <!-- bending joint -->
  <joint name="finger_1_segment_joint_4" type="revolute">
    <axis rpy="0 0 0" xyz="0 1 0"/>
    <parent link="finger_1_segment_link_4"/>
    <child link="finger_1_segment_link_5"/>
    <origin rpy="0 0 0" xyz="0.019 0 0"/>
    <limit effort="1000.0" lower="-1.0" upper="1.0" velocity="1.0"/>
    <dynamics damping="0.001" friction="0.0"/>
  </joint>
  <gazebo reference="finger_1_segment_joint_4">
    <provideFeedback>1</provideFeedback>
    <springReference>0.0</springReference>
    <implicitSpringDamper>1</implicitSpringDamper>
    <springStiffness>3.0</springStiffness>
  </gazebo>
  <!-- set transmission for gazebo ROS controllers-->
  <transmission name="finger_1_segment_tran_4">
    <type>transmission_interface/SimpleTransmission</type>
    <joint name="finger_1_segment_joint_4">
      <hardwareInterface>hardware_interface/EffortJointInterface</hardwareInterface>
    </joint>
    <actuator name="finger_1_segment_motor_4">
      <hardwareInterface>hardware_interface/EffortJointInterface</hardwareInterface>
      <mechanicalReduction>1</mechanicalReduction>
    </actuator>
  </transmission>
  <link name="finger_1_segment_link_6">
    <inertial>
      <mass value="0.00633333333333"/>
      <inertia ixx="4.14205277778e-07" ixy="0.00" ixz="0.00" iyy="7.62538611111e-07" iyz="0.00" izz="1.17588888889e-06"/>
      <!-- <inertia ixx="${1e-6 * stability_factor}"
                 iyy="${1e-6 * stability_factor}"
                 izz="${1e-6 * stability_factor}"
                ixy="0.00" iyz="0.00" ixz="0.00" /> -->
    </inertial>
    <visual>
      <origin rpy="0 0 0" xyz="0.0095 0 0"/>
      <geometry>
        <box size="0.019 0.028 0.0009"/>
      </geometry>
    </visual>
    <collision>
      <origin rpy="0 0 0" xyz="0.0095 0 0"/>
      <geometry>
        <box size="0.019 0.028 0.0009"/>
      </geometry>
    </collision>
  </link>
  <gazebo reference="finger_1_segment_link_6">
    <material>Gazebo/Orange</material>
    <mu1>0.1</mu1>
    <mu2>0.1</mu2>
    <maxVel>0.0</maxVel>
    <minDepth>0.001</minDepth>
    <!-- <kp>100</kp>
        <kd>1</kd> -->
  </gazebo>
  <!-- bending joint -->
  <joint name="finger_1_segment_joint_5" type="revolute">
    <axis rpy="0 0 0" xyz="0 1 0"/>
    <parent link="finger_1_segment_link_5"/>
    <child link="finger_1_segment_link_6"/>
    <origin rpy="0 0 0" xyz="0.019 0 0"/>
    <limit effort="1000.0" lower="-1.0" upper="1.0" velocity="1.0"/>
    <dynamics damping="0.001" friction="0.0"/>
  </joint>
  <gazebo reference="finger_1_segment_joint_5">
    <provideFeedback>1</provideFeedback>
    <springReference>0.0</springReference>
    <implicitSpringDamper>1</implicitSpringDamper>
    <springStiffness>3.0</springStiffness>
  </gazebo>
  <!-- set transmission for gazebo ROS controllers-->
  <transmission name="finger_1_segment_tran_5">
    <type>transmission_interface/SimpleTransmission</type>
    <joint name="finger_1_segment_joint_5">
      <hardwareInterface>hardware_interface/EffortJointInterface</hardwareInterface>
    </joint>
    <actuator name="finger_1_segment_motor_5">
      <hardwareInterface>hardware_interface/EffortJointInterface</hardwareInterface>
      <mechanicalReduction>1</mechanicalReduction>
    </actuator>
  </transmission>
  <link name="finger_1_segment_link_7">
    <inertial>
      <mass value="0.00633333333333"/>
      <inertia ixx="4.14205277778e-07" ixy="0.00" ixz="0.00" iyy="7.62538611111e-07" iyz="0.00" izz="1.17588888889e-06"/>
      <!-- <inertia ixx="${1e-6 * stability_factor}"
                 iyy="${1e-6 * stability_factor}"
                 izz="${1e-6 * stability_factor}"
                ixy="0.00" iyz="0.00" ixz="0.00" /> -->
    </inertial>
    <visual>
      <origin rpy="0 0 0" xyz="0.0095 0 0"/>
      <geometry>
        <box size="0.019 0.028 0.0009"/>
      </geometry>
    </visual>
    <collision>
      <origin rpy="0 0 0" xyz="0.0095 0 0"/>
      <geometry>
        <box size="0.019 0.028 0.0009"/>
      </geometry>
    </collision>
  </link>
  <gazebo reference="finger_1_segment_link_7">
    <material>Gazebo/Orange</material>
    <mu1>0.1</mu1>
    <mu2>0.1</mu2>
    <maxVel>0.0</maxVel>
    <minDepth>0.001</minDepth>
    <!-- <kp>100</kp>
        <kd>1</kd> -->
  </gazebo>
  <!-- bending joint -->
  <joint name="finger_1_segment_joint_6" type="revolute">
    <axis rpy="0 0 0" xyz="0 1 0"/>
    <parent link="finger_1_segment_link_6"/>
    <child link="finger_1_segment_link_7"/>
    <origin rpy="0 0 0" xyz="0.019 0 0"/>
    <limit effort="1000.0" lower="-1.0" upper="1.0" velocity="1.0"/>
    <dynamics damping="0.001" friction="0.0"/>
  </joint>
  <gazebo reference="finger_1_segment_joint_6">
    <provideFeedback>1</provideFeedback>
    <springReference>0.0</springReference>
    <implicitSpringDamper>1</implicitSpringDamper>
    <springStiffness>3.0</springStiffness>
  </gazebo>
  <!-- set transmission for gazebo ROS controllers-->
  <transmission name="finger_1_segment_tran_6">
    <type>transmission_interface/SimpleTransmission</type>
    <joint name="finger_1_segment_joint_6">
      <hardwareInterface>hardware_interface/EffortJointInterface</hardwareInterface>
    </joint>
    <actuator name="finger_1_segment_motor_6">
      <hardwareInterface>hardware_interface/EffortJointInterface</hardwareInterface>
      <mechanicalReduction>1</mechanicalReduction>
    </actuator>
  </transmission>
  <link name="finger_1_segment_link_8">
    <inertial>
      <mass value="0.00633333333333"/>
      <inertia ixx="4.14205277778e-07" ixy="0.00" ixz="0.00" iyy="7.62538611111e-07" iyz="0.00" izz="1.17588888889e-06"/>
      <!-- <inertia ixx="${1e-6 * stability_factor}"
                 iyy="${1e-6 * stability_factor}"
                 izz="${1e-6 * stability_factor}"
                ixy="0.00" iyz="0.00" ixz="0.00" /> -->
    </inertial>
    <visual>
      <origin rpy="0 0 0" xyz="0.0095 0 0"/>
      <geometry>
        <box size="0.019 0.028 0.0009"/>
      </geometry>
    </visual>
    <collision>
      <origin rpy="0 0 0" xyz="0.0095 0 0"/>
      <geometry>
        <box size="0.019 0.028 0.0009"/>
      </geometry>
    </collision>
  </link>
  <gazebo reference="finger_1_segment_link_8">
    <material>Gazebo/Orange</material>
    <mu1>0.1</mu1>
    <mu2>0.1</mu2>
    <maxVel>0.0</maxVel>
    <minDepth>0.001</minDepth>
    <!-- <kp>100</kp>
        <kd>1</kd> -->
  </gazebo>
  <!-- bending joint -->
  <joint name="finger_1_segment_joint_7" type="revolute">
    <axis rpy="0 0 0" xyz="0 1 0"/>
    <parent link="finger_1_segment_link_7"/>
    <child link="finger_1_segment_link_8"/>
    <origin rpy="0 0 0" xyz="0.019 0 0"/>
    <limit effort="1000.0" lower="-1.0" upper="1.0" velocity="1.0"/>
    <dynamics damping="0.001" friction="0.0"/>
  </joint>
  <gazebo reference="finger_1_segment_joint_7">
    <provideFeedback>1</provideFeedback>
    <springReference>0.0</springReference>
    <implicitSpringDamper>1</implicitSpringDamper>
    <springStiffness>3.0</springStiffness>
  </gazebo>
  <!-- set transmission for gazebo ROS controllers-->
  <transmission name="finger_1_segment_tran_7">
    <type>transmission_interface/SimpleTransmission</type>
    <joint name="finger_1_segment_joint_7">
      <hardwareInterface>hardware_interface/EffortJointInterface</hardwareInterface>
    </joint>
    <actuator name="finger_1_segment_motor_7">
      <hardwareInterface>hardware_interface/EffortJointInterface</hardwareInterface>
      <mechanicalReduction>1</mechanicalReduction>
    </actuator>
  </transmission>
  <link name="finger_1_segment_link_9">
    <inertial>
      <mass value="0.00633333333333"/>
      <inertia ixx="4.14205277778e-07" ixy="0.00" ixz="0.00" iyy="7.62538611111e-07" iyz="0.00" izz="1.17588888889e-06"/>
      <!-- <inertia ixx="${1e-6 * stability_factor}"
                 iyy="${1e-6 * stability_factor}"
                 izz="${1e-6 * stability_factor}"
                ixy="0.00" iyz="0.00" ixz="0.00" /> -->
    </inertial>
    <visual>
      <origin rpy="0 0 0" xyz="0.0095 0 0"/>
      <geometry>
        <box size="0.019 0.028 0.0009"/>
      </geometry>
    </visual>
    <collision>
      <origin rpy="0 0 0" xyz="0.0095 0 0"/>
      <geometry>
        <box size="0.019 0.028 0.0009"/>
      </geometry>
    </collision>
  </link>
  <gazebo reference="finger_1_segment_link_9">
    <material>Gazebo/Orange</material>
    <mu1>0.1</mu1>
    <mu2>0.1</mu2>
    <maxVel>0.0</maxVel>
    <minDepth>0.001</minDepth>
    <!-- <kp>100</kp>
        <kd>1</kd> -->
  </gazebo>
  <!-- bending joint -->
  <joint name="finger_1_segment_joint_8" type="revolute">
    <axis rpy="0 0 0" xyz="0 1 0"/>
    <parent link="finger_1_segment_link_8"/>
    <child link="finger_1_segment_link_9"/>
    <origin rpy="0 0 0" xyz="0.019 0 0"/>
    <limit effort="1000.0" lower="-1.0" upper="1.0" velocity="1.0"/>
    <dynamics damping="0.001" friction="0.0"/>
  </joint>
  <gazebo reference="finger_1_segment_joint_8">
    <provideFeedback>1</provideFeedback>
    <springReference>0.0</springReference>
    <implicitSpringDamper>1</implicitSpringDamper>
    <springStiffness>3.0</springStiffness>
  </gazebo>
  <!-- set transmission for gazebo ROS controllers-->
  <transmission name="finger_1_segment_tran_8">
    <type>transmission_interface/SimpleTransmission</type>
    <joint name="finger_1_segment_joint_8">
      <hardwareInterface>hardware_interface/EffortJointInterface</hardwareInterface>
    </joint>
    <actuator name="finger_1_segment_motor_8">
      <hardwareInterface>hardware_interface/EffortJointInterface</hardwareInterface>
      <mechanicalReduction>1</mechanicalReduction>
    </actuator>
  </transmission>
  <link name="finger_1_segment_link_10">
    <inertial>
      <mass value="0.00633333333333"/>
      <inertia ixx="4.14205277778e-07" ixy="0.00" ixz="0.00" iyy="7.62538611111e-07" iyz="0.00" izz="1.17588888889e-06"/>
      <!-- <inertia ixx="${1e-6 * stability_factor}"
                 iyy="${1e-6 * stability_factor}"
                 izz="${1e-6 * stability_factor}"
                ixy="0.00" iyz="0.00" ixz="0.00" /> -->
    </inertial>
    <visual>
      <origin rpy="0 0 0" xyz="0.0095 0 0"/>
      <geometry>
        <box size="0.019 0.028 0.0009"/>
      </geometry>
    </visual>
    <collision>
      <origin rpy="0 0 0" xyz="0.0095 0 0"/>
      <geometry>
        <box size="0.019 0.028 0.0009"/>
      </geometry>
    </collision>
  </link>
  <gazebo reference="finger_1_segment_link_10">
    <material>Gazebo/Orange</material>
    <mu1>0.1</mu1>
    <mu2>0.1</mu2>
    <maxVel>0.0</maxVel>
    <minDepth>0.001</minDepth>
    <!-- <kp>100</kp>
        <kd>1</kd> -->
  </gazebo>
  <!-- bending joint -->
  <joint name="finger_1_segment_joint_9" type="revolute">
    <axis rpy="0 0 0" xyz="0 1 0"/>
    <parent link="finger_1_segment_link_9"/>
    <child link="finger_1_segment_link_10"/>
    <origin rpy="0 0 0" xyz="0.019 0 0"/>
    <limit effort="1000.0" lower="-1.0" upper="1.0" velocity="1.0"/>
    <dynamics damping="0.001" friction="0.0"/>
  </joint>
  <gazebo reference="finger_1_segment_joint_9">
    <provideFeedback>1</provideFeedback>
    <springReference>0.0</springReference>
    <implicitSpringDamper>1</implicitSpringDamper>
    <springStiffness>3.0</springStiffness>
  </gazebo>
  <!-- set transmission for gazebo ROS controllers-->
  <transmission name="finger_1_segment_tran_9">
    <type>transmission_interface/SimpleTransmission</type>
    <joint name="finger_1_segment_joint_9">
      <hardwareInterface>hardware_interface/EffortJointInterface</hardwareInterface>
    </joint>
    <actuator name="finger_1_segment_motor_9">
      <hardwareInterface>hardware_interface/EffortJointInterface</hardwareInterface>
      <mechanicalReduction>1</mechanicalReduction>
    </actuator>
  </transmission>
  <!-- Add the finger hook link -->
  <link name="finger_1_finger_hook_link">
    <inertial>
      <mass value="0.00633333333333"/>
      <inertia ixx="4.14205277778e-07" ixy="0.00" ixz="0.00" iyy="7.62538611111e-07" iyz="0.00" izz="1.17588888889e-06"/>
      <!-- <inertia ixx="${1e-6 * stability_factor}"
                 iyy="${1e-6 * stability_factor}"
                 izz="${1e-6 * stability_factor}"
                ixy="0.00" iyz="0.00" ixz="0.00" /> -->
    </inertial>
    <visual>
      <origin rpy="0 0 0" xyz="0.0175 0 0"/>
      <geometry>
        <box size="0.035 0.028 0.0009"/>
      </geometry>
    </visual>
    <collision>
      <origin rpy="0 0 0" xyz="0.0175 0 0"/>
      <geometry>
        <box size="0.035 0.028 0.0009"/>
      </geometry>
    </collision>
  </link>
  <gazebo reference="finger_1_finger_hook_link">
    <material>Gazebo/Orange</material>
    <mu1>0.1</mu1>
    <mu2>0.1</mu2>
    <maxVel>0.0</maxVel>
    <minDepth>0.001</minDepth>
    <!-- <kp>100</kp>
        <kd>1</kd> -->
  </gazebo>
  <!-- Connect the finger hook via a fixed joint -->
  <joint name="finger_1_finger_hook_joint" type="fixed">
    <parent link="finger_1_segment_link_10"/>
    <child link="finger_1_finger_hook_link"/>
    <origin rpy="0 -1.57079632679 0" xyz="0.019 0 0"/>
  </joint>
  <!-- <xacro:property name="joint_friction" value="${total_friction / num_segments}"/>
    <xacro:property name="joint_damping" value="${total_damping * num_segments}"/> -->
  <link name="finger_2_segment_link_1">
    <inertial>
      <mass value="0.00633333333333"/>
      <inertia ixx="4.14205277778e-07" ixy="0.00" ixz="0.00" iyy="7.62538611111e-07" iyz="0.00" izz="1.17588888889e-06"/>
      <!-- <inertia ixx="${1e-6 * stability_factor}"
                 iyy="${1e-6 * stability_factor}"
                 izz="${1e-6 * stability_factor}"
                ixy="0.00" iyz="0.00" ixz="0.00" /> -->
    </inertial>
    <visual>
      <origin rpy="0 0 0" xyz="0.0095 0 0"/>
      <geometry>
        <box size="0.019 0.028 0.0009"/>
      </geometry>
    </visual>
    <collision>
      <origin rpy="0 0 0" xyz="0.0095 0 0"/>
      <geometry>
        <box size="0.019 0.028 0.0009"/>
      </geometry>
    </collision>
  </link>
  <gazebo reference="finger_2_segment_link_1">
    <material>Gazebo/Orange</material>
    <mu1>0.1</mu1>
    <mu2>0.1</mu2>
    <maxVel>0.0</maxVel>
    <minDepth>0.001</minDepth>
    <!-- <kp>100</kp>
        <kd>1</kd> -->
  </gazebo>
  <link name="finger_2_segment_link_2">
    <inertial>
      <mass value="0.00633333333333"/>
      <inertia ixx="4.14205277778e-07" ixy="0.00" ixz="0.00" iyy="7.62538611111e-07" iyz="0.00" izz="1.17588888889e-06"/>
      <!-- <inertia ixx="${1e-6 * stability_factor}"
                 iyy="${1e-6 * stability_factor}"
                 izz="${1e-6 * stability_factor}"
                ixy="0.00" iyz="0.00" ixz="0.00" /> -->
    </inertial>
    <visual>
      <origin rpy="0 0 0" xyz="0.0095 0 0"/>
      <geometry>
        <box size="0.019 0.028 0.0009"/>
      </geometry>
    </visual>
    <collision>
      <origin rpy="0 0 0" xyz="0.0095 0 0"/>
      <geometry>
        <box size="0.019 0.028 0.0009"/>
      </geometry>
    </collision>
  </link>
  <gazebo reference="finger_2_segment_link_2">
    <material>Gazebo/Orange</material>
    <mu1>0.1</mu1>
    <mu2>0.1</mu2>
    <maxVel>0.0</maxVel>
    <minDepth>0.001</minDepth>
    <!-- <kp>100</kp>
        <kd>1</kd> -->
  </gazebo>
  <!-- bending joint -->
  <joint name="finger_2_segment_joint_1" type="revolute">
    <axis rpy="0 0 0" xyz="0 1 0"/>
    <parent link="finger_2_segment_link_1"/>
    <child link="finger_2_segment_link_2"/>
    <origin rpy="0 0 0" xyz="0.019 0 0"/>
    <limit effort="1000.0" lower="-1.0" upper="1.0" velocity="1.0"/>
    <dynamics damping="0.001" friction="0.0"/>
  </joint>
  <gazebo reference="finger_2_segment_joint_1">
    <provideFeedback>1</provideFeedback>
    <springReference>0.0</springReference>
    <implicitSpringDamper>1</implicitSpringDamper>
    <springStiffness>3.0</springStiffness>
  </gazebo>
  <!-- set transmission for gazebo ROS controllers-->
  <transmission name="finger_2_segment_tran_1">
    <type>transmission_interface/SimpleTransmission</type>
    <joint name="finger_2_segment_joint_1">
      <hardwareInterface>hardware_interface/EffortJointInterface</hardwareInterface>
    </joint>
    <actuator name="finger_2_segment_motor_1">
      <hardwareInterface>hardware_interface/EffortJointInterface</hardwareInterface>
      <mechanicalReduction>1</mechanicalReduction>
    </actuator>
  </transmission>
  <link name="finger_2_segment_link_3">
    <inertial>
      <mass value="0.00633333333333"/>
      <inertia ixx="4.14205277778e-07" ixy="0.00" ixz="0.00" iyy="7.62538611111e-07" iyz="0.00" izz="1.17588888889e-06"/>
      <!-- <inertia ixx="${1e-6 * stability_factor}"
                 iyy="${1e-6 * stability_factor}"
                 izz="${1e-6 * stability_factor}"
                ixy="0.00" iyz="0.00" ixz="0.00" /> -->
    </inertial>
    <visual>
      <origin rpy="0 0 0" xyz="0.0095 0 0"/>
      <geometry>
        <box size="0.019 0.028 0.0009"/>
      </geometry>
    </visual>
    <collision>
      <origin rpy="0 0 0" xyz="0.0095 0 0"/>
      <geometry>
        <box size="0.019 0.028 0.0009"/>
      </geometry>
    </collision>
  </link>
  <gazebo reference="finger_2_segment_link_3">
    <material>Gazebo/Orange</material>
    <mu1>0.1</mu1>
    <mu2>0.1</mu2>
    <maxVel>0.0</maxVel>
    <minDepth>0.001</minDepth>
    <!-- <kp>100</kp>
        <kd>1</kd> -->
  </gazebo>
  <!-- bending joint -->
  <joint name="finger_2_segment_joint_2" type="revolute">
    <axis rpy="0 0 0" xyz="0 1 0"/>
    <parent link="finger_2_segment_link_2"/>
    <child link="finger_2_segment_link_3"/>
    <origin rpy="0 0 0" xyz="0.019 0 0"/>
    <limit effort="1000.0" lower="-1.0" upper="1.0" velocity="1.0"/>
    <dynamics damping="0.001" friction="0.0"/>
  </joint>
  <gazebo reference="finger_2_segment_joint_2">
    <provideFeedback>1</provideFeedback>
    <springReference>0.0</springReference>
    <implicitSpringDamper>1</implicitSpringDamper>
    <springStiffness>3.0</springStiffness>
  </gazebo>
  <!-- set transmission for gazebo ROS controllers-->
  <transmission name="finger_2_segment_tran_2">
    <type>transmission_interface/SimpleTransmission</type>
    <joint name="finger_2_segment_joint_2">
      <hardwareInterface>hardware_interface/EffortJointInterface</hardwareInterface>
    </joint>
    <actuator name="finger_2_segment_motor_2">
      <hardwareInterface>hardware_interface/EffortJointInterface</hardwareInterface>
      <mechanicalReduction>1</mechanicalReduction>
    </actuator>
  </transmission>
  <link name="finger_2_segment_link_4">
    <inertial>
      <mass value="0.00633333333333"/>
      <inertia ixx="4.14205277778e-07" ixy="0.00" ixz="0.00" iyy="7.62538611111e-07" iyz="0.00" izz="1.17588888889e-06"/>
      <!-- <inertia ixx="${1e-6 * stability_factor}"
                 iyy="${1e-6 * stability_factor}"
                 izz="${1e-6 * stability_factor}"
                ixy="0.00" iyz="0.00" ixz="0.00" /> -->
    </inertial>
    <visual>
      <origin rpy="0 0 0" xyz="0.0095 0 0"/>
      <geometry>
        <box size="0.019 0.028 0.0009"/>
      </geometry>
    </visual>
    <collision>
      <origin rpy="0 0 0" xyz="0.0095 0 0"/>
      <geometry>
        <box size="0.019 0.028 0.0009"/>
      </geometry>
    </collision>
  </link>
  <gazebo reference="finger_2_segment_link_4">
    <material>Gazebo/Orange</material>
    <mu1>0.1</mu1>
    <mu2>0.1</mu2>
    <maxVel>0.0</maxVel>
    <minDepth>0.001</minDepth>
    <!-- <kp>100</kp>
        <kd>1</kd> -->
  </gazebo>
  <!-- bending joint -->
  <joint name="finger_2_segment_joint_3" type="revolute">
    <axis rpy="0 0 0" xyz="0 1 0"/>
    <parent link="finger_2_segment_link_3"/>
    <child link="finger_2_segment_link_4"/>
    <origin rpy="0 0 0" xyz="0.019 0 0"/>
    <limit effort="1000.0" lower="-1.0" upper="1.0" velocity="1.0"/>
    <dynamics damping="0.001" friction="0.0"/>
  </joint>
  <gazebo reference="finger_2_segment_joint_3">
    <provideFeedback>1</provideFeedback>
    <springReference>0.0</springReference>
    <implicitSpringDamper>1</implicitSpringDamper>
    <springStiffness>3.0</springStiffness>
  </gazebo>
  <!-- set transmission for gazebo ROS controllers-->
  <transmission name="finger_2_segment_tran_3">
    <type>transmission_interface/SimpleTransmission</type>
    <joint name="finger_2_segment_joint_3">
      <hardwareInterface>hardware_interface/EffortJointInterface</hardwareInterface>
    </joint>
    <actuator name="finger_2_segment_motor_3">
      <hardwareInterface>hardware_interface/EffortJointInterface</hardwareInterface>
      <mechanicalReduction>1</mechanicalReduction>
    </actuator>
  </transmission>
  <link name="finger_2_segment_link_5">
    <inertial>
      <mass value="0.00633333333333"/>
      <inertia ixx="4.14205277778e-07" ixy="0.00" ixz="0.00" iyy="7.62538611111e-07" iyz="0.00" izz="1.17588888889e-06"/>
      <!-- <inertia ixx="${1e-6 * stability_factor}"
                 iyy="${1e-6 * stability_factor}"
                 izz="${1e-6 * stability_factor}"
                ixy="0.00" iyz="0.00" ixz="0.00" /> -->
    </inertial>
    <visual>
      <origin rpy="0 0 0" xyz="0.0095 0 0"/>
      <geometry>
        <box size="0.019 0.028 0.0009"/>
      </geometry>
    </visual>
    <collision>
      <origin rpy="0 0 0" xyz="0.0095 0 0"/>
      <geometry>
        <box size="0.019 0.028 0.0009"/>
      </geometry>
    </collision>
  </link>
  <gazebo reference="finger_2_segment_link_5">
    <material>Gazebo/Orange</material>
    <mu1>0.1</mu1>
    <mu2>0.1</mu2>
    <maxVel>0.0</maxVel>
    <minDepth>0.001</minDepth>
    <!-- <kp>100</kp>
        <kd>1</kd> -->
  </gazebo>
  <!-- bending joint -->
  <joint name="finger_2_segment_joint_4" type="revolute">
    <axis rpy="0 0 0" xyz="0 1 0"/>
    <parent link="finger_2_segment_link_4"/>
    <child link="finger_2_segment_link_5"/>
    <origin rpy="0 0 0" xyz="0.019 0 0"/>
    <limit effort="1000.0" lower="-1.0" upper="1.0" velocity="1.0"/>
    <dynamics damping="0.001" friction="0.0"/>
  </joint>
  <gazebo reference="finger_2_segment_joint_4">
    <provideFeedback>1</provideFeedback>
    <springReference>0.0</springReference>
    <implicitSpringDamper>1</implicitSpringDamper>
    <springStiffness>3.0</springStiffness>
  </gazebo>
  <!-- set transmission for gazebo ROS controllers-->
  <transmission name="finger_2_segment_tran_4">
    <type>transmission_interface/SimpleTransmission</type>
    <joint name="finger_2_segment_joint_4">
      <hardwareInterface>hardware_interface/EffortJointInterface</hardwareInterface>
    </joint>
    <actuator name="finger_2_segment_motor_4">
      <hardwareInterface>hardware_interface/EffortJointInterface</hardwareInterface>
      <mechanicalReduction>1</mechanicalReduction>
    </actuator>
  </transmission>
  <link name="finger_2_segment_link_6">
    <inertial>
      <mass value="0.00633333333333"/>
      <inertia ixx="4.14205277778e-07" ixy="0.00" ixz="0.00" iyy="7.62538611111e-07" iyz="0.00" izz="1.17588888889e-06"/>
      <!-- <inertia ixx="${1e-6 * stability_factor}"
                 iyy="${1e-6 * stability_factor}"
                 izz="${1e-6 * stability_factor}"
                ixy="0.00" iyz="0.00" ixz="0.00" /> -->
    </inertial>
    <visual>
      <origin rpy="0 0 0" xyz="0.0095 0 0"/>
      <geometry>
        <box size="0.019 0.028 0.0009"/>
      </geometry>
    </visual>
    <collision>
      <origin rpy="0 0 0" xyz="0.0095 0 0"/>
      <geometry>
        <box size="0.019 0.028 0.0009"/>
      </geometry>
    </collision>
  </link>
  <gazebo reference="finger_2_segment_link_6">
    <material>Gazebo/Orange</material>
    <mu1>0.1</mu1>
    <mu2>0.1</mu2>
    <maxVel>0.0</maxVel>
    <minDepth>0.001</minDepth>
    <!-- <kp>100</kp>
        <kd>1</kd> -->
  </gazebo>
  <!-- bending joint -->
  <joint name="finger_2_segment_joint_5" type="revolute">
    <axis rpy="0 0 0" xyz="0 1 0"/>
    <parent link="finger_2_segment_link_5"/>
    <child link="finger_2_segment_link_6"/>
    <origin rpy="0 0 0" xyz="0.019 0 0"/>
    <limit effort="1000.0" lower="-1.0" upper="1.0" velocity="1.0"/>
    <dynamics damping="0.001" friction="0.0"/>
  </joint>
  <gazebo reference="finger_2_segment_joint_5">
    <provideFeedback>1</provideFeedback>
    <springReference>0.0</springReference>
    <implicitSpringDamper>1</implicitSpringDamper>
    <springStiffness>3.0</springStiffness>
  </gazebo>
  <!-- set transmission for gazebo ROS controllers-->
  <transmission name="finger_2_segment_tran_5">
    <type>transmission_interface/SimpleTransmission</type>
    <joint name="finger_2_segment_joint_5">
      <hardwareInterface>hardware_interface/EffortJointInterface</hardwareInterface>
    </joint>
    <actuator name="finger_2_segment_motor_5">
      <hardwareInterface>hardware_interface/EffortJointInterface</hardwareInterface>
      <mechanicalReduction>1</mechanicalReduction>
    </actuator>
  </transmission>
  <link name="finger_2_segment_link_7">
    <inertial>
      <mass value="0.00633333333333"/>
      <inertia ixx="4.14205277778e-07" ixy="0.00" ixz="0.00" iyy="7.62538611111e-07" iyz="0.00" izz="1.17588888889e-06"/>
      <!-- <inertia ixx="${1e-6 * stability_factor}"
                 iyy="${1e-6 * stability_factor}"
                 izz="${1e-6 * stability_factor}"
                ixy="0.00" iyz="0.00" ixz="0.00" /> -->
    </inertial>
    <visual>
      <origin rpy="0 0 0" xyz="0.0095 0 0"/>
      <geometry>
        <box size="0.019 0.028 0.0009"/>
      </geometry>
    </visual>
    <collision>
      <origin rpy="0 0 0" xyz="0.0095 0 0"/>
      <geometry>
        <box size="0.019 0.028 0.0009"/>
      </geometry>
    </collision>
  </link>
  <gazebo reference="finger_2_segment_link_7">
    <material>Gazebo/Orange</material>
    <mu1>0.1</mu1>
    <mu2>0.1</mu2>
    <maxVel>0.0</maxVel>
    <minDepth>0.001</minDepth>
    <!-- <kp>100</kp>
        <kd>1</kd> -->
  </gazebo>
  <!-- bending joint -->
  <joint name="finger_2_segment_joint_6" type="revolute">
    <axis rpy="0 0 0" xyz="0 1 0"/>
    <parent link="finger_2_segment_link_6"/>
    <child link="finger_2_segment_link_7"/>
    <origin rpy="0 0 0" xyz="0.019 0 0"/>
    <limit effort="1000.0" lower="-1.0" upper="1.0" velocity="1.0"/>
    <dynamics damping="0.001" friction="0.0"/>
  </joint>
  <gazebo reference="finger_2_segment_joint_6">
    <provideFeedback>1</provideFeedback>
    <springReference>0.0</springReference>
    <implicitSpringDamper>1</implicitSpringDamper>
    <springStiffness>3.0</springStiffness>
  </gazebo>
  <!-- set transmission for gazebo ROS controllers-->
  <transmission name="finger_2_segment_tran_6">
    <type>transmission_interface/SimpleTransmission</type>
    <joint name="finger_2_segment_joint_6">
      <hardwareInterface>hardware_interface/EffortJointInterface</hardwareInterface>
    </joint>
    <actuator name="finger_2_segment_motor_6">
      <hardwareInterface>hardware_interface/EffortJointInterface</hardwareInterface>
      <mechanicalReduction>1</mechanicalReduction>
    </actuator>
  </transmission>
  <link name="finger_2_segment_link_8">
    <inertial>
      <mass value="0.00633333333333"/>
      <inertia ixx="4.14205277778e-07" ixy="0.00" ixz="0.00" iyy="7.62538611111e-07" iyz="0.00" izz="1.17588888889e-06"/>
      <!-- <inertia ixx="${1e-6 * stability_factor}"
                 iyy="${1e-6 * stability_factor}"
                 izz="${1e-6 * stability_factor}"
                ixy="0.00" iyz="0.00" ixz="0.00" /> -->
    </inertial>
    <visual>
      <origin rpy="0 0 0" xyz="0.0095 0 0"/>
      <geometry>
        <box size="0.019 0.028 0.0009"/>
      </geometry>
    </visual>
    <collision>
      <origin rpy="0 0 0" xyz="0.0095 0 0"/>
      <geometry>
        <box size="0.019 0.028 0.0009"/>
      </geometry>
    </collision>
  </link>
  <gazebo reference="finger_2_segment_link_8">
    <material>Gazebo/Orange</material>
    <mu1>0.1</mu1>
    <mu2>0.1</mu2>
    <maxVel>0.0</maxVel>
    <minDepth>0.001</minDepth>
    <!-- <kp>100</kp>
        <kd>1</kd> -->
  </gazebo>
  <!-- bending joint -->
  <joint name="finger_2_segment_joint_7" type="revolute">
    <axis rpy="0 0 0" xyz="0 1 0"/>
    <parent link="finger_2_segment_link_7"/>
    <child link="finger_2_segment_link_8"/>
    <origin rpy="0 0 0" xyz="0.019 0 0"/>
    <limit effort="1000.0" lower="-1.0" upper="1.0" velocity="1.0"/>
    <dynamics damping="0.001" friction="0.0"/>
  </joint>
  <gazebo reference="finger_2_segment_joint_7">
    <provideFeedback>1</provideFeedback>
    <springReference>0.0</springReference>
    <implicitSpringDamper>1</implicitSpringDamper>
    <springStiffness>3.0</springStiffness>
  </gazebo>
  <!-- set transmission for gazebo ROS controllers-->
  <transmission name="finger_2_segment_tran_7">
    <type>transmission_interface/SimpleTransmission</type>
    <joint name="finger_2_segment_joint_7">
      <hardwareInterface>hardware_interface/EffortJointInterface</hardwareInterface>
    </joint>
    <actuator name="finger_2_segment_motor_7">
      <hardwareInterface>hardware_interface/EffortJointInterface</hardwareInterface>
      <mechanicalReduction>1</mechanicalReduction>
    </actuator>
  </transmission>
  <link name="finger_2_segment_link_9">
    <inertial>
      <mass value="0.00633333333333"/>
      <inertia ixx="4.14205277778e-07" ixy="0.00" ixz="0.00" iyy="7.62538611111e-07" iyz="0.00" izz="1.17588888889e-06"/>
      <!-- <inertia ixx="${1e-6 * stability_factor}"
                 iyy="${1e-6 * stability_factor}"
                 izz="${1e-6 * stability_factor}"
                ixy="0.00" iyz="0.00" ixz="0.00" /> -->
    </inertial>
    <visual>
      <origin rpy="0 0 0" xyz="0.0095 0 0"/>
      <geometry>
        <box size="0.019 0.028 0.0009"/>
      </geometry>
    </visual>
    <collision>
      <origin rpy="0 0 0" xyz="0.0095 0 0"/>
      <geometry>
        <box size="0.019 0.028 0.0009"/>
      </geometry>
    </collision>
  </link>
  <gazebo reference="finger_2_segment_link_9">
    <material>Gazebo/Orange</material>
    <mu1>0.1</mu1>
    <mu2>0.1</mu2>
    <maxVel>0.0</maxVel>
    <minDepth>0.001</minDepth>
    <!-- <kp>100</kp>
        <kd>1</kd> -->
  </gazebo>
  <!-- bending joint -->
  <joint name="finger_2_segment_joint_8" type="revolute">
    <axis rpy="0 0 0" xyz="0 1 0"/>
    <parent link="finger_2_segment_link_8"/>
    <child link="finger_2_segment_link_9"/>
    <origin rpy="0 0 0" xyz="0.019 0 0"/>
    <limit effort="1000.0" lower="-1.0" upper="1.0" velocity="1.0"/>
    <dynamics damping="0.001" friction="0.0"/>
  </joint>
  <gazebo reference="finger_2_segment_joint_8">
    <provideFeedback>1</provideFeedback>
    <springReference>0.0</springReference>
    <implicitSpringDamper>1</implicitSpringDamper>
    <springStiffness>3.0</springStiffness>
  </gazebo>
  <!-- set transmission for gazebo ROS controllers-->
  <transmission name="finger_2_segment_tran_8">
    <type>transmission_interface/SimpleTransmission</type>
    <joint name="finger_2_segment_joint_8">
      <hardwareInterface>hardware_interface/EffortJointInterface</hardwareInterface>
    </joint>
    <actuator name="finger_2_segment_motor_8">
      <hardwareInterface>hardware_interface/EffortJointInterface</hardwareInterface>
      <mechanicalReduction>1</mechanicalReduction>
    </actuator>
  </transmission>
  <link name="finger_2_segment_link_10">
    <inertial>
      <mass value="0.00633333333333"/>
      <inertia ixx="4.14205277778e-07" ixy="0.00" ixz="0.00" iyy="7.62538611111e-07" iyz="0.00" izz="1.17588888889e-06"/>
      <!-- <inertia ixx="${1e-6 * stability_factor}"
                 iyy="${1e-6 * stability_factor}"
                 izz="${1e-6 * stability_factor}"
                ixy="0.00" iyz="0.00" ixz="0.00" /> -->
    </inertial>
    <visual>
      <origin rpy="0 0 0" xyz="0.0095 0 0"/>
      <geometry>
        <box size="0.019 0.028 0.0009"/>
      </geometry>
    </visual>
    <collision>
      <origin rpy="0 0 0" xyz="0.0095 0 0"/>
      <geometry>
        <box size="0.019 0.028 0.0009"/>
      </geometry>
    </collision>
  </link>
  <gazebo reference="finger_2_segment_link_10">
    <material>Gazebo/Orange</material>
    <mu1>0.1</mu1>
    <mu2>0.1</mu2>
    <maxVel>0.0</maxVel>
    <minDepth>0.001</minDepth>
    <!-- <kp>100</kp>
        <kd>1</kd> -->
  </gazebo>
  <!-- bending joint -->
  <joint name="finger_2_segment_joint_9" type="revolute">
    <axis rpy="0 0 0" xyz="0 1 0"/>
    <parent link="finger_2_segment_link_9"/>
    <child link="finger_2_segment_link_10"/>
    <origin rpy="0 0 0" xyz="0.019 0 0"/>
    <limit effort="1000.0" lower="-1.0" upper="1.0" velocity="1.0"/>
    <dynamics damping="0.001" friction="0.0"/>
  </joint>
  <gazebo reference="finger_2_segment_joint_9">
    <provideFeedback>1</provideFeedback>
    <springReference>0.0</springReference>
    <implicitSpringDamper>1</implicitSpringDamper>
    <springStiffness>3.0</springStiffness>
  </gazebo>
  <!-- set transmission for gazebo ROS controllers-->
  <transmission name="finger_2_segment_tran_9">
    <type>transmission_interface/SimpleTransmission</type>
    <joint name="finger_2_segment_joint_9">
      <hardwareInterface>hardware_interface/EffortJointInterface</hardwareInterface>
    </joint>
    <actuator name="finger_2_segment_motor_9">
      <hardwareInterface>hardware_interface/EffortJointInterface</hardwareInterface>
      <mechanicalReduction>1</mechanicalReduction>
    </actuator>
  </transmission>
  <!-- Add the finger hook link -->
  <link name="finger_2_finger_hook_link">
    <inertial>
      <mass value="0.00633333333333"/>
      <inertia ixx="4.14205277778e-07" ixy="0.00" ixz="0.00" iyy="7.62538611111e-07" iyz="0.00" izz="1.17588888889e-06"/>
      <!-- <inertia ixx="${1e-6 * stability_factor}"
                 iyy="${1e-6 * stability_factor}"
                 izz="${1e-6 * stability_factor}"
                ixy="0.00" iyz="0.00" ixz="0.00" /> -->
    </inertial>
    <visual>
      <origin rpy="0 0 0" xyz="0.0175 0 0"/>
      <geometry>
        <box size="0.035 0.028 0.0009"/>
      </geometry>
    </visual>
    <collision>
      <origin rpy="0 0 0" xyz="0.0175 0 0"/>
      <geometry>
        <box size="0.035 0.028 0.0009"/>
      </geometry>
    </collision>
  </link>
  <gazebo reference="finger_2_finger_hook_link">
    <material>Gazebo/Orange</material>
    <mu1>0.1</mu1>
    <mu2>0.1</mu2>
    <maxVel>0.0</maxVel>
    <minDepth>0.001</minDepth>
    <!-- <kp>100</kp>
        <kd>1</kd> -->
  </gazebo>
  <!-- Connect the finger hook via a fixed joint -->
  <joint name="finger_2_finger_hook_joint" type="fixed">
    <parent link="finger_2_segment_link_10"/>
    <child link="finger_2_finger_hook_link"/>
    <origin rpy="0 -1.57079632679 0" xyz="0.019 0 0"/>
  </joint>
  <!-- <xacro:property name="joint_friction" value="${total_friction / num_segments}"/>
    <xacro:property name="joint_damping" value="${total_damping * num_segments}"/> -->
  <link name="finger_3_segment_link_1">
    <inertial>
      <mass value="0.00633333333333"/>
      <inertia ixx="4.14205277778e-07" ixy="0.00" ixz="0.00" iyy="7.62538611111e-07" iyz="0.00" izz="1.17588888889e-06"/>
      <!-- <inertia ixx="${1e-6 * stability_factor}"
                 iyy="${1e-6 * stability_factor}"
                 izz="${1e-6 * stability_factor}"
                ixy="0.00" iyz="0.00" ixz="0.00" /> -->
    </inertial>
    <visual>
      <origin rpy="0 0 0" xyz="0.0095 0 0"/>
      <geometry>
        <box size="0.019 0.028 0.0009"/>
      </geometry>
    </visual>
    <collision>
      <origin rpy="0 0 0" xyz="0.0095 0 0"/>
      <geometry>
        <box size="0.019 0.028 0.0009"/>
      </geometry>
    </collision>
  </link>
  <gazebo reference="finger_3_segment_link_1">
    <material>Gazebo/Orange</material>
    <mu1>0.1</mu1>
    <mu2>0.1</mu2>
    <maxVel>0.0</maxVel>
    <minDepth>0.001</minDepth>
    <!-- <kp>100</kp>
        <kd>1</kd> -->
  </gazebo>
  <link name="finger_3_segment_link_2">
    <inertial>
      <mass value="0.00633333333333"/>
      <inertia ixx="4.14205277778e-07" ixy="0.00" ixz="0.00" iyy="7.62538611111e-07" iyz="0.00" izz="1.17588888889e-06"/>
      <!-- <inertia ixx="${1e-6 * stability_factor}"
                 iyy="${1e-6 * stability_factor}"
                 izz="${1e-6 * stability_factor}"
                ixy="0.00" iyz="0.00" ixz="0.00" /> -->
    </inertial>
    <visual>
      <origin rpy="0 0 0" xyz="0.0095 0 0"/>
      <geometry>
        <box size="0.019 0.028 0.0009"/>
      </geometry>
    </visual>
    <collision>
      <origin rpy="0 0 0" xyz="0.0095 0 0"/>
      <geometry>
        <box size="0.019 0.028 0.0009"/>
      </geometry>
    </collision>
  </link>
  <gazebo reference="finger_3_segment_link_2">
    <material>Gazebo/Orange</material>
    <mu1>0.1</mu1>
    <mu2>0.1</mu2>
    <maxVel>0.0</maxVel>
    <minDepth>0.001</minDepth>
    <!-- <kp>100</kp>
        <kd>1</kd> -->
  </gazebo>
  <!-- bending joint -->
  <joint name="finger_3_segment_joint_1" type="revolute">
    <axis rpy="0 0 0" xyz="0 1 0"/>
    <parent link="finger_3_segment_link_1"/>
    <child link="finger_3_segment_link_2"/>
    <origin rpy="0 0 0" xyz="0.019 0 0"/>
    <limit effort="1000.0" lower="-1.0" upper="1.0" velocity="1.0"/>
    <dynamics damping="0.001" friction="0.0"/>
  </joint>
  <gazebo reference="finger_3_segment_joint_1">
    <provideFeedback>1</provideFeedback>
    <springReference>0.0</springReference>
    <implicitSpringDamper>1</implicitSpringDamper>
    <springStiffness>3.0</springStiffness>
  </gazebo>
  <!-- set transmission for gazebo ROS controllers-->
  <transmission name="finger_3_segment_tran_1">
    <type>transmission_interface/SimpleTransmission</type>
    <joint name="finger_3_segment_joint_1">
      <hardwareInterface>hardware_interface/EffortJointInterface</hardwareInterface>
    </joint>
    <actuator name="finger_3_segment_motor_1">
      <hardwareInterface>hardware_interface/EffortJointInterface</hardwareInterface>
      <mechanicalReduction>1</mechanicalReduction>
    </actuator>
  </transmission>
  <link name="finger_3_segment_link_3">
    <inertial>
      <mass value="0.00633333333333"/>
      <inertia ixx="4.14205277778e-07" ixy="0.00" ixz="0.00" iyy="7.62538611111e-07" iyz="0.00" izz="1.17588888889e-06"/>
      <!-- <inertia ixx="${1e-6 * stability_factor}"
                 iyy="${1e-6 * stability_factor}"
                 izz="${1e-6 * stability_factor}"
                ixy="0.00" iyz="0.00" ixz="0.00" /> -->
    </inertial>
    <visual>
      <origin rpy="0 0 0" xyz="0.0095 0 0"/>
      <geometry>
        <box size="0.019 0.028 0.0009"/>
      </geometry>
    </visual>
    <collision>
      <origin rpy="0 0 0" xyz="0.0095 0 0"/>
      <geometry>
        <box size="0.019 0.028 0.0009"/>
      </geometry>
    </collision>
  </link>
  <gazebo reference="finger_3_segment_link_3">
    <material>Gazebo/Orange</material>
    <mu1>0.1</mu1>
    <mu2>0.1</mu2>
    <maxVel>0.0</maxVel>
    <minDepth>0.001</minDepth>
    <!-- <kp>100</kp>
        <kd>1</kd> -->
  </gazebo>
  <!-- bending joint -->
  <joint name="finger_3_segment_joint_2" type="revolute">
    <axis rpy="0 0 0" xyz="0 1 0"/>
    <parent link="finger_3_segment_link_2"/>
    <child link="finger_3_segment_link_3"/>
    <origin rpy="0 0 0" xyz="0.019 0 0"/>
    <limit effort="1000.0" lower="-1.0" upper="1.0" velocity="1.0"/>
    <dynamics damping="0.001" friction="0.0"/>
  </joint>
  <gazebo reference="finger_3_segment_joint_2">
    <provideFeedback>1</provideFeedback>
    <springReference>0.0</springReference>
    <implicitSpringDamper>1</implicitSpringDamper>
    <springStiffness>3.0</springStiffness>
  </gazebo>
  <!-- set transmission for gazebo ROS controllers-->
  <transmission name="finger_3_segment_tran_2">
    <type>transmission_interface/SimpleTransmission</type>
    <joint name="finger_3_segment_joint_2">
      <hardwareInterface>hardware_interface/EffortJointInterface</hardwareInterface>
    </joint>
    <actuator name="finger_3_segment_motor_2">
      <hardwareInterface>hardware_interface/EffortJointInterface</hardwareInterface>
      <mechanicalReduction>1</mechanicalReduction>
    </actuator>
  </transmission>
  <link name="finger_3_segment_link_4">
    <inertial>
      <mass value="0.00633333333333"/>
      <inertia ixx="4.14205277778e-07" ixy="0.00" ixz="0.00" iyy="7.62538611111e-07" iyz="0.00" izz="1.17588888889e-06"/>
      <!-- <inertia ixx="${1e-6 * stability_factor}"
                 iyy="${1e-6 * stability_factor}"
                 izz="${1e-6 * stability_factor}"
                ixy="0.00" iyz="0.00" ixz="0.00" /> -->
    </inertial>
    <visual>
      <origin rpy="0 0 0" xyz="0.0095 0 0"/>
      <geometry>
        <box size="0.019 0.028 0.0009"/>
      </geometry>
    </visual>
    <collision>
      <origin rpy="0 0 0" xyz="0.0095 0 0"/>
      <geometry>
        <box size="0.019 0.028 0.0009"/>
      </geometry>
    </collision>
  </link>
  <gazebo reference="finger_3_segment_link_4">
    <material>Gazebo/Orange</material>
    <mu1>0.1</mu1>
    <mu2>0.1</mu2>
    <maxVel>0.0</maxVel>
    <minDepth>0.001</minDepth>
    <!-- <kp>100</kp>
        <kd>1</kd> -->
  </gazebo>
  <!-- bending joint -->
  <joint name="finger_3_segment_joint_3" type="revolute">
    <axis rpy="0 0 0" xyz="0 1 0"/>
    <parent link="finger_3_segment_link_3"/>
    <child link="finger_3_segment_link_4"/>
    <origin rpy="0 0 0" xyz="0.019 0 0"/>
    <limit effort="1000.0" lower="-1.0" upper="1.0" velocity="1.0"/>
    <dynamics damping="0.001" friction="0.0"/>
  </joint>
  <gazebo reference="finger_3_segment_joint_3">
    <provideFeedback>1</provideFeedback>
    <springReference>0.0</springReference>
    <implicitSpringDamper>1</implicitSpringDamper>
    <springStiffness>3.0</springStiffness>
  </gazebo>
  <!-- set transmission for gazebo ROS controllers-->
  <transmission name="finger_3_segment_tran_3">
    <type>transmission_interface/SimpleTransmission</type>
    <joint name="finger_3_segment_joint_3">
      <hardwareInterface>hardware_interface/EffortJointInterface</hardwareInterface>
    </joint>
    <actuator name="finger_3_segment_motor_3">
      <hardwareInterface>hardware_interface/EffortJointInterface</hardwareInterface>
      <mechanicalReduction>1</mechanicalReduction>
    </actuator>
  </transmission>
  <link name="finger_3_segment_link_5">
    <inertial>
      <mass value="0.00633333333333"/>
      <inertia ixx="4.14205277778e-07" ixy="0.00" ixz="0.00" iyy="7.62538611111e-07" iyz="0.00" izz="1.17588888889e-06"/>
      <!-- <inertia ixx="${1e-6 * stability_factor}"
                 iyy="${1e-6 * stability_factor}"
                 izz="${1e-6 * stability_factor}"
                ixy="0.00" iyz="0.00" ixz="0.00" /> -->
    </inertial>
    <visual>
      <origin rpy="0 0 0" xyz="0.0095 0 0"/>
      <geometry>
        <box size="0.019 0.028 0.0009"/>
      </geometry>
    </visual>
    <collision>
      <origin rpy="0 0 0" xyz="0.0095 0 0"/>
      <geometry>
        <box size="0.019 0.028 0.0009"/>
      </geometry>
    </collision>
  </link>
  <gazebo reference="finger_3_segment_link_5">
    <material>Gazebo/Orange</material>
    <mu1>0.1</mu1>
    <mu2>0.1</mu2>
    <maxVel>0.0</maxVel>
    <minDepth>0.001</minDepth>
    <!-- <kp>100</kp>
        <kd>1</kd> -->
  </gazebo>
  <!-- bending joint -->
  <joint name="finger_3_segment_joint_4" type="revolute">
    <axis rpy="0 0 0" xyz="0 1 0"/>
    <parent link="finger_3_segment_link_4"/>
    <child link="finger_3_segment_link_5"/>
    <origin rpy="0 0 0" xyz="0.019 0 0"/>
    <limit effort="1000.0" lower="-1.0" upper="1.0" velocity="1.0"/>
    <dynamics damping="0.001" friction="0.0"/>
  </joint>
  <gazebo reference="finger_3_segment_joint_4">
    <provideFeedback>1</provideFeedback>
    <springReference>0.0</springReference>
    <implicitSpringDamper>1</implicitSpringDamper>
    <springStiffness>3.0</springStiffness>
  </gazebo>
  <!-- set transmission for gazebo ROS controllers-->
  <transmission name="finger_3_segment_tran_4">
    <type>transmission_interface/SimpleTransmission</type>
    <joint name="finger_3_segment_joint_4">
      <hardwareInterface>hardware_interface/EffortJointInterface</hardwareInterface>
    </joint>
    <actuator name="finger_3_segment_motor_4">
      <hardwareInterface>hardware_interface/EffortJointInterface</hardwareInterface>
      <mechanicalReduction>1</mechanicalReduction>
    </actuator>
  </transmission>
  <link name="finger_3_segment_link_6">
    <inertial>
      <mass value="0.00633333333333"/>
      <inertia ixx="4.14205277778e-07" ixy="0.00" ixz="0.00" iyy="7.62538611111e-07" iyz="0.00" izz="1.17588888889e-06"/>
      <!-- <inertia ixx="${1e-6 * stability_factor}"
                 iyy="${1e-6 * stability_factor}"
                 izz="${1e-6 * stability_factor}"
                ixy="0.00" iyz="0.00" ixz="0.00" /> -->
    </inertial>
    <visual>
      <origin rpy="0 0 0" xyz="0.0095 0 0"/>
      <geometry>
        <box size="0.019 0.028 0.0009"/>
      </geometry>
    </visual>
    <collision>
      <origin rpy="0 0 0" xyz="0.0095 0 0"/>
      <geometry>
        <box size="0.019 0.028 0.0009"/>
      </geometry>
    </collision>
  </link>
  <gazebo reference="finger_3_segment_link_6">
    <material>Gazebo/Orange</material>
    <mu1>0.1</mu1>
    <mu2>0.1</mu2>
    <maxVel>0.0</maxVel>
    <minDepth>0.001</minDepth>
    <!-- <kp>100</kp>
        <kd>1</kd> -->
  </gazebo>
  <!-- bending joint -->
  <joint name="finger_3_segment_joint_5" type="revolute">
    <axis rpy="0 0 0" xyz="0 1 0"/>
    <parent link="finger_3_segment_link_5"/>
    <child link="finger_3_segment_link_6"/>
    <origin rpy="0 0 0" xyz="0.019 0 0"/>
    <limit effort="1000.0" lower="-1.0" upper="1.0" velocity="1.0"/>
    <dynamics damping="0.001" friction="0.0"/>
  </joint>
  <gazebo reference="finger_3_segment_joint_5">
    <provideFeedback>1</provideFeedback>
    <springReference>0.0</springReference>
    <implicitSpringDamper>1</implicitSpringDamper>
    <springStiffness>3.0</springStiffness>
  </gazebo>
  <!-- set transmission for gazebo ROS controllers-->
  <transmission name="finger_3_segment_tran_5">
    <type>transmission_interface/SimpleTransmission</type>
    <joint name="finger_3_segment_joint_5">
      <hardwareInterface>hardware_interface/EffortJointInterface</hardwareInterface>
    </joint>
    <actuator name="finger_3_segment_motor_5">
      <hardwareInterface>hardware_interface/EffortJointInterface</hardwareInterface>
      <mechanicalReduction>1</mechanicalReduction>
    </actuator>
  </transmission>
  <link name="finger_3_segment_link_7">
    <inertial>
      <mass value="0.00633333333333"/>
      <inertia ixx="4.14205277778e-07" ixy="0.00" ixz="0.00" iyy="7.62538611111e-07" iyz="0.00" izz="1.17588888889e-06"/>
      <!-- <inertia ixx="${1e-6 * stability_factor}"
                 iyy="${1e-6 * stability_factor}"
                 izz="${1e-6 * stability_factor}"
                ixy="0.00" iyz="0.00" ixz="0.00" /> -->
    </inertial>
    <visual>
      <origin rpy="0 0 0" xyz="0.0095 0 0"/>
      <geometry>
        <box size="0.019 0.028 0.0009"/>
      </geometry>
    </visual>
    <collision>
      <origin rpy="0 0 0" xyz="0.0095 0 0"/>
      <geometry>
        <box size="0.019 0.028 0.0009"/>
      </geometry>
    </collision>
  </link>
  <gazebo reference="finger_3_segment_link_7">
    <material>Gazebo/Orange</material>
    <mu1>0.1</mu1>
    <mu2>0.1</mu2>
    <maxVel>0.0</maxVel>
    <minDepth>0.001</minDepth>
    <!-- <kp>100</kp>
        <kd>1</kd> -->
  </gazebo>
  <!-- bending joint -->
  <joint name="finger_3_segment_joint_6" type="revolute">
    <axis rpy="0 0 0" xyz="0 1 0"/>
    <parent link="finger_3_segment_link_6"/>
    <child link="finger_3_segment_link_7"/>
    <origin rpy="0 0 0" xyz="0.019 0 0"/>
    <limit effort="1000.0" lower="-1.0" upper="1.0" velocity="1.0"/>
    <dynamics damping="0.001" friction="0.0"/>
  </joint>
  <gazebo reference="finger_3_segment_joint_6">
    <provideFeedback>1</provideFeedback>
    <springReference>0.0</springReference>
    <implicitSpringDamper>1</implicitSpringDamper>
    <springStiffness>3.0</springStiffness>
  </gazebo>
  <!-- set transmission for gazebo ROS controllers-->
  <transmission name="finger_3_segment_tran_6">
    <type>transmission_interface/SimpleTransmission</type>
    <joint name="finger_3_segment_joint_6">
      <hardwareInterface>hardware_interface/EffortJointInterface</hardwareInterface>
    </joint>
    <actuator name="finger_3_segment_motor_6">
      <hardwareInterface>hardware_interface/EffortJointInterface</hardwareInterface>
      <mechanicalReduction>1</mechanicalReduction>
    </actuator>
  </transmission>
  <link name="finger_3_segment_link_8">
    <inertial>
      <mass value="0.00633333333333"/>
      <inertia ixx="4.14205277778e-07" ixy="0.00" ixz="0.00" iyy="7.62538611111e-07" iyz="0.00" izz="1.17588888889e-06"/>
      <!-- <inertia ixx="${1e-6 * stability_factor}"
                 iyy="${1e-6 * stability_factor}"
                 izz="${1e-6 * stability_factor}"
                ixy="0.00" iyz="0.00" ixz="0.00" /> -->
    </inertial>
    <visual>
      <origin rpy="0 0 0" xyz="0.0095 0 0"/>
      <geometry>
        <box size="0.019 0.028 0.0009"/>
      </geometry>
    </visual>
    <collision>
      <origin rpy="0 0 0" xyz="0.0095 0 0"/>
      <geometry>
        <box size="0.019 0.028 0.0009"/>
      </geometry>
    </collision>
  </link>
  <gazebo reference="finger_3_segment_link_8">
    <material>Gazebo/Orange</material>
    <mu1>0.1</mu1>
    <mu2>0.1</mu2>
    <maxVel>0.0</maxVel>
    <minDepth>0.001</minDepth>
    <!-- <kp>100</kp>
        <kd>1</kd> -->
  </gazebo>
  <!-- bending joint -->
  <joint name="finger_3_segment_joint_7" type="revolute">
    <axis rpy="0 0 0" xyz="0 1 0"/>
    <parent link="finger_3_segment_link_7"/>
    <child link="finger_3_segment_link_8"/>
    <origin rpy="0 0 0" xyz="0.019 0 0"/>
    <limit effort="1000.0" lower="-1.0" upper="1.0" velocity="1.0"/>
    <dynamics damping="0.001" friction="0.0"/>
  </joint>
  <gazebo reference="finger_3_segment_joint_7">
    <provideFeedback>1</provideFeedback>
    <springReference>0.0</springReference>
    <implicitSpringDamper>1</implicitSpringDamper>
    <springStiffness>3.0</springStiffness>
  </gazebo>
  <!-- set transmission for gazebo ROS controllers-->
  <transmission name="finger_3_segment_tran_7">
    <type>transmission_interface/SimpleTransmission</type>
    <joint name="finger_3_segment_joint_7">
      <hardwareInterface>hardware_interface/EffortJointInterface</hardwareInterface>
    </joint>
    <actuator name="finger_3_segment_motor_7">
      <hardwareInterface>hardware_interface/EffortJointInterface</hardwareInterface>
      <mechanicalReduction>1</mechanicalReduction>
    </actuator>
  </transmission>
  <link name="finger_3_segment_link_9">
    <inertial>
      <mass value="0.00633333333333"/>
      <inertia ixx="4.14205277778e-07" ixy="0.00" ixz="0.00" iyy="7.62538611111e-07" iyz="0.00" izz="1.17588888889e-06"/>
      <!-- <inertia ixx="${1e-6 * stability_factor}"
                 iyy="${1e-6 * stability_factor}"
                 izz="${1e-6 * stability_factor}"
                ixy="0.00" iyz="0.00" ixz="0.00" /> -->
    </inertial>
    <visual>
      <origin rpy="0 0 0" xyz="0.0095 0 0"/>
      <geometry>
        <box size="0.019 0.028 0.0009"/>
      </geometry>
    </visual>
    <collision>
      <origin rpy="0 0 0" xyz="0.0095 0 0"/>
      <geometry>
        <box size="0.019 0.028 0.0009"/>
      </geometry>
    </collision>
  </link>
  <gazebo reference="finger_3_segment_link_9">
    <material>Gazebo/Orange</material>
    <mu1>0.1</mu1>
    <mu2>0.1</mu2>
    <maxVel>0.0</maxVel>
    <minDepth>0.001</minDepth>
    <!-- <kp>100</kp>
        <kd>1</kd> -->
  </gazebo>
  <!-- bending joint -->
  <joint name="finger_3_segment_joint_8" type="revolute">
    <axis rpy="0 0 0" xyz="0 1 0"/>
    <parent link="finger_3_segment_link_8"/>
    <child link="finger_3_segment_link_9"/>
    <origin rpy="0 0 0" xyz="0.019 0 0"/>
    <limit effort="1000.0" lower="-1.0" upper="1.0" velocity="1.0"/>
    <dynamics damping="0.001" friction="0.0"/>
  </joint>
  <gazebo reference="finger_3_segment_joint_8">
    <provideFeedback>1</provideFeedback>
    <springReference>0.0</springReference>
    <implicitSpringDamper>1</implicitSpringDamper>
    <springStiffness>3.0</springStiffness>
  </gazebo>
  <!-- set transmission for gazebo ROS controllers-->
  <transmission name="finger_3_segment_tran_8">
    <type>transmission_interface/SimpleTransmission</type>
    <joint name="finger_3_segment_joint_8">
      <hardwareInterface>hardware_interface/EffortJointInterface</hardwareInterface>
    </joint>
    <actuator name="finger_3_segment_motor_8">
      <hardwareInterface>hardware_interface/EffortJointInterface</hardwareInterface>
      <mechanicalReduction>1</mechanicalReduction>
    </actuator>
  </transmission>
  <link name="finger_3_segment_link_10">
    <inertial>
      <mass value="0.00633333333333"/>
      <inertia ixx="4.14205277778e-07" ixy="0.00" ixz="0.00" iyy="7.62538611111e-07" iyz="0.00" izz="1.17588888889e-06"/>
      <!-- <inertia ixx="${1e-6 * stability_factor}"
                 iyy="${1e-6 * stability_factor}"
                 izz="${1e-6 * stability_factor}"
                ixy="0.00" iyz="0.00" ixz="0.00" /> -->
    </inertial>
    <visual>
      <origin rpy="0 0 0" xyz="0.0095 0 0"/>
      <geometry>
        <box size="0.019 0.028 0.0009"/>
      </geometry>
    </visual>
    <collision>
      <origin rpy="0 0 0" xyz="0.0095 0 0"/>
      <geometry>
        <box size="0.019 0.028 0.0009"/>
      </geometry>
    </collision>
  </link>
  <gazebo reference="finger_3_segment_link_10">
    <material>Gazebo/Orange</material>
    <mu1>0.1</mu1>
    <mu2>0.1</mu2>
    <maxVel>0.0</maxVel>
    <minDepth>0.001</minDepth>
    <!-- <kp>100</kp>
        <kd>1</kd> -->
  </gazebo>
  <!-- bending joint -->
  <joint name="finger_3_segment_joint_9" type="revolute">
    <axis rpy="0 0 0" xyz="0 1 0"/>
    <parent link="finger_3_segment_link_9"/>
    <child link="finger_3_segment_link_10"/>
    <origin rpy="0 0 0" xyz="0.019 0 0"/>
    <limit effort="1000.0" lower="-1.0" upper="1.0" velocity="1.0"/>
    <dynamics damping="0.001" friction="0.0"/>
  </joint>
  <gazebo reference="finger_3_segment_joint_9">
    <provideFeedback>1</provideFeedback>
    <springReference>0.0</springReference>
    <implicitSpringDamper>1</implicitSpringDamper>
    <springStiffness>3.0</springStiffness>
  </gazebo>
  <!-- set transmission for gazebo ROS controllers-->
  <transmission name="finger_3_segment_tran_9">
    <type>transmission_interface/SimpleTransmission</type>
    <joint name="finger_3_segment_joint_9">
      <hardwareInterface>hardware_interface/EffortJointInterface</hardwareInterface>
    </joint>
    <actuator name="finger_3_segment_motor_9">
      <hardwareInterface>hardware_interface/EffortJointInterface</hardwareInterface>
      <mechanicalReduction>1</mechanicalReduction>
    </actuator>
  </transmission>
  <!-- Add the finger hook link -->
  <link name="finger_3_finger_hook_link">
    <inertial>
      <mass value="0.00633333333333"/>
      <inertia ixx="4.14205277778e-07" ixy="0.00" ixz="0.00" iyy="7.62538611111e-07" iyz="0.00" izz="1.17588888889e-06"/>
      <!-- <inertia ixx="${1e-6 * stability_factor}"
                 iyy="${1e-6 * stability_factor}"
                 izz="${1e-6 * stability_factor}"
                ixy="0.00" iyz="0.00" ixz="0.00" /> -->
    </inertial>
    <visual>
      <origin rpy="0 0 0" xyz="0.0175 0 0"/>
      <geometry>
        <box size="0.035 0.028 0.0009"/>
      </geometry>
    </visual>
    <collision>
      <origin rpy="0 0 0" xyz="0.0175 0 0"/>
      <geometry>
        <box size="0.035 0.028 0.0009"/>
      </geometry>
    </collision>
  </link>
  <gazebo reference="finger_3_finger_hook_link">
    <material>Gazebo/Orange</material>
    <mu1>0.1</mu1>
    <mu2>0.1</mu2>
    <maxVel>0.0</maxVel>
    <minDepth>0.001</minDepth>
    <!-- <kp>100</kp>
        <kd>1</kd> -->
  </gazebo>
  <!-- Connect the finger hook via a fixed joint -->
  <joint name="finger_3_finger_hook_joint" type="fixed">
    <parent link="finger_3_segment_link_10"/>
    <child link="finger_3_finger_hook_link"/>
    <origin rpy="0 -1.57079632679 0" xyz="0.019 0 0"/>
  </joint>
  <gazebo>
    <plugin filename="libfinger_controller_plugin.so" name="finger_controller_plugin"/>
  </gazebo>
  <!-- attach them to the gripper -->
  <joint name="to_segmented_finger_1" type="fixed">
    <origin rpy="1.57079632679 0 0" xyz="0.129 -0.007 0"/>
    <parent link="finger_1"/>
    <child link="finger_1_segment_link_1"/>
  </joint>
  <joint name="to_segmented_finger_2" type="fixed">
    <origin rpy="1.57079632679 0 0" xyz="0.129 -0.007 0"/>
    <parent link="finger_2"/>
    <child link="finger_2_segment_link_1"/>
  </joint>
  <joint name="to_segmented_finger_3" type="fixed">
    <origin rpy="1.57079632679 0 0" xyz="0.129 -0.007 0"/>
    <parent link="finger_3"/>
    <child link="finger_3_segment_link_1"/>
  </joint>
  <!--<xacro:panda_and_eff />-->
</robot>
